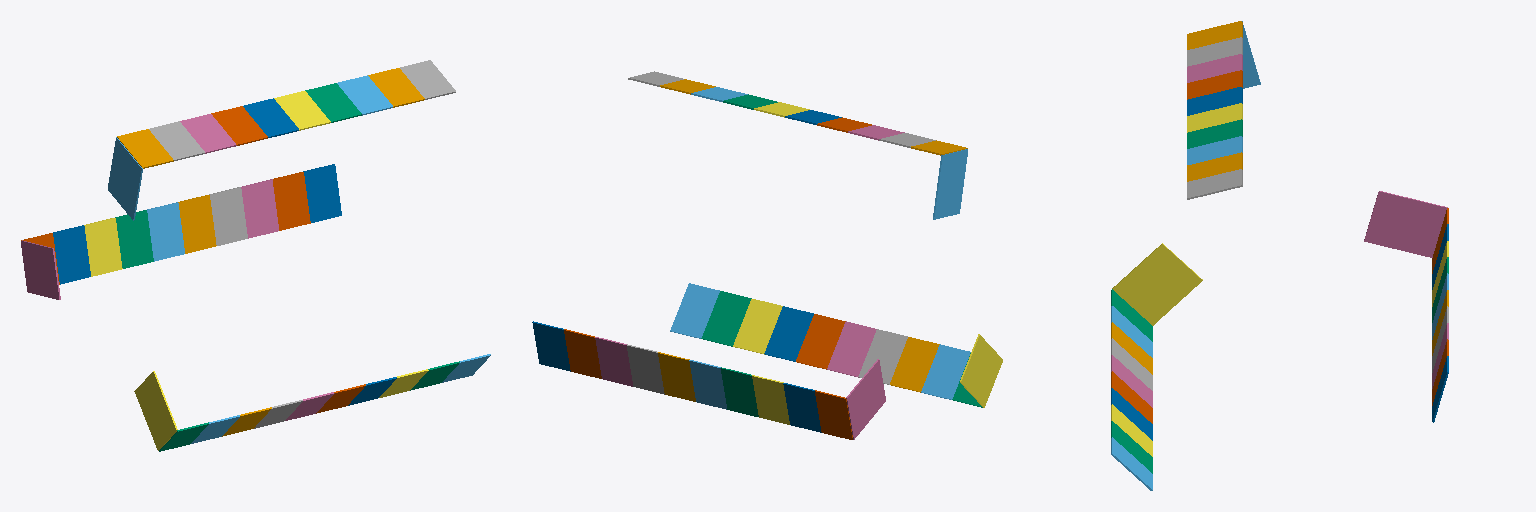
--- Render facts (derived) ---
3 views of the same robot in one strip: view 1: azimuth 30°, elevation 25°; view 2: azimuth 150°, elevation 25°; view 3: azimuth 270°, elevation 25° (orthographic).
Model panda_and_gripper with 51 links and 50 joints (37 revolute, 4 prismatic, 9 fixed), rooted at world, posed all joints at 0 but 4 set to mid-range because 0 is outside their limits (panda_joint4 = -1.57, finger_1_prismatic_joint = 0.097, finger_2_prismatic_joint = 0.097, finger_3_prismatic_joint = 0.097).
Visible links, largest first — view 1: finger_1_finger_hook_link, finger_3_finger_hook_link, finger_2_finger_hook_link, finger_2_segment_link_4, finger_2_segment_link_9, finger_2_segment_link_1, finger_2_segment_link_6, finger_2_segment_link_8, finger_2_segment_link_5, finger_2_segment_link_2, finger_2_segment_link_3, finger_2_segment_link_7 (+20 smaller); view 2: finger_1_finger_hook_link, finger_3_finger_hook_link, finger_2_finger_hook_link, finger_1_segment_link_2, finger_1_segment_link_1, finger_1_segment_link_6, finger_1_segment_link_4, finger_1_segment_link_8, finger_1_segment_link_9, finger_1_segment_link_3, finger_1_segment_link_5, finger_1_segment_link_7 (+10 smaller); view 3: finger_1_finger_hook_link, finger_2_finger_hook_link, finger_3_segment_link_1, finger_3_segment_link_2, finger_3_segment_link_4, finger_3_segment_link_5, finger_3_segment_link_7, finger_3_segment_link_9, finger_3_segment_link_3, finger_3_segment_link_6, finger_3_segment_link_10, finger_3_segment_link_8 (+11 smaller).
Link boxes in pixels (box(x1,y1,x2,y2)): finger_1_finger_hook_link: box(134, 371, 177, 450); finger_3_finger_hook_link: box(108, 137, 142, 220); finger_2_finger_hook_link: box(21, 240, 60, 299); finger_2_segment_link_4: box(209, 187, 247, 245); finger_2_segment_link_9: box(53, 225, 90, 284); finger_2_segment_link_1: box(303, 164, 341, 222); finger_2_segment_link_6: box(147, 202, 184, 261); finger_2_segment_link_8: box(84, 218, 122, 276); finger_2_segment_link_5: box(178, 195, 216, 253); finger_2_segment_link_2: box(273, 172, 310, 230); finger_2_segment_link_3: box(241, 179, 278, 238); finger_2_segment_link_7: box(115, 210, 153, 268); finger_1_finger_hook_link: box(960, 334, 1002, 407); finger_3_finger_hook_link: box(933, 149, 967, 219); finger_2_finger_hook_link: box(846, 359, 885, 439); finger_1_segment_link_2: box(701, 291, 751, 346); finger_1_segment_link_1: box(670, 283, 719, 338); finger_1_segment_link_6: box(827, 321, 876, 377); finger_1_segment_link_4: box(764, 306, 813, 361); finger_1_segment_link_8: box(890, 337, 939, 392); finger_1_segment_link_9: box(921, 344, 970, 399); finger_1_segment_link_3: box(733, 299, 782, 354); finger_1_segment_link_5: box(796, 314, 845, 369); finger_1_segment_link_7: box(858, 329, 907, 384); finger_1_finger_hook_link: box(1112, 243, 1202, 325); finger_2_finger_hook_link: box(1364, 191, 1447, 257); finger_3_segment_link_1: box(1187, 169, 1242, 199); finger_3_segment_link_2: box(1187, 152, 1242, 181); finger_3_segment_link_4: box(1187, 119, 1242, 148); finger_3_segment_link_5: box(1187, 103, 1242, 132); finger_3_segment_link_7: box(1187, 70, 1242, 99); finger_3_segment_link_9: box(1187, 37, 1242, 66); finger_3_segment_link_3: box(1187, 136, 1242, 164); finger_3_segment_link_6: box(1187, 87, 1242, 115); finger_3_segment_link_10: box(1187, 21, 1242, 49); finger_3_segment_link_8: box(1187, 54, 1242, 82).
Size in the robot's own frame: 0.1905 by 0.1648 by 0.1648 metres.
Meshes: 12 distinct files referenced, 0 mesh visuals loaded (none loaded); not drawn: 16 (reference not matched to a file when rendering).

robot.urdf — panda_and_gripper:
<?xml version="1.0" encoding="utf-8"?>
<!-- =================================================================================== -->
<!-- |    This document was autogenerated by xacro from panda_and_gripper.urdf.xacro   | -->
<!-- |    EDITING THIS FILE BY HAND IS NOT RECOMMENDED                                 | -->
<!-- =================================================================================== -->
<robot name="panda_and_gripper">
  <!-- <link name="world" />
    <xacro:unless value="${not connected_to}">
      <joint name="virtual_joint" type="fixed">
        <parent link="${connected_to}"/>
        <child link="${arm_id}_link0"/>
        <origin rpy="${rpy}" xyz="${xyz}"/>
        <dynamics damping="1.0"/>
      </joint>
    </xacro:unless> -->
  <link name="panda_link0">
    <visual>
      <geometry>
        <mesh filename="package://gripper_description/meshes_panda/visual/link0.dae"/>
      </geometry>
    </visual>
    <collision>
      <geometry>
        <mesh filename="package://gripper_description/meshes_panda/collision/link0.stl"/>
      </geometry>
    </collision>
    <inertial>
      <origin rpy="0 0 0" xyz="0 0 0"/>
      <mass value="3.06"/>
      <inertia ixx="0.3" ixy="0.0" ixz="0.0" iyy="0.3" iyz="0.0" izz="0.3"/>
      <!-- <inertia ixx="3e-1" ixy="0.0" ixz="0.0" iyy="3e-1" iyz="0.0" izz="3e-1" /> -->
    </inertial>
  </link>
  <link name="panda_link1">
    <visual>
      <geometry>
        <mesh filename="package://gripper_description/meshes_panda/visual/link1.dae"/>
      </geometry>
    </visual>
    <collision>
      <geometry>
        <mesh filename="package://gripper_description/meshes_panda/collision/link1.stl"/>
      </geometry>
    </collision>
    <inertial>
      <origin rpy="0 0 0" xyz="0 0 0"/>
      <mass value="2.34"/>
      <inertia ixx="7.0337e-01" ixy="-1.3900e-04" ixz="6.7720e-03" iyy="7.0661e-01" iyz="1.9169e-02" izz="9.1170e-03"/>
      <!-- <inertia ixx="3e-1" ixy="0.0" ixz="0.0" iyy="3e-1" iyz="0.0" izz="3e-1" /> -->
    </inertial>
  </link>
  <link name="panda_link2">
    <visual>
      <geometry>
        <mesh filename="package://gripper_description/meshes_panda/visual/link2.dae"/>
      </geometry>
    </visual>
    <collision>
      <geometry>
        <mesh filename="package://gripper_description/meshes_panda/collision/link2.stl"/>
      </geometry>
    </collision>
    <inertial>
      <origin rpy="0 0 0" xyz="0 0 0"/>
      <mass value="2.36"/>
      <inertia ixx="7.9620e-03" ixy="-3.9250e-03" ixz="1.0254e-02" iyy="2.8110e-02" iyz="7.0400e-04" izz="2.5995e-02"/>
      <!-- <inertia ixx="3e-1" ixy="0.0" ixz="0.0" iyy="3e-1" iyz="0.0" izz="3e-1" /> -->
    </inertial>
  </link>
  <link name="panda_link3">
    <visual>
      <geometry>
        <mesh filename="package://gripper_description/meshes_panda/visual/link3.dae"/>
      </geometry>
    </visual>
    <collision>
      <geometry>
        <mesh filename="package://gripper_description/meshes_panda/collision/link3.stl"/>
      </geometry>
    </collision>
    <inertial>
      <origin rpy="0 0 0" xyz="0 0 0"/>
      <mass value="2.38"/>
      <inertia ixx="3.7242e-02" ixy="-4.7610e-03" ixz="-1.1396e-02" iyy="3.6155e-02" iyz="-1.2805e-02" izz="1.0830e-02"/>
      <!-- <inertia ixx="3e-1" ixy="0.0" ixz="0.0" iyy="3e-1" iyz="0.0" izz="3e-1" /> -->
    </inertial>
  </link>
  <link name="panda_link4">
    <visual>
      <geometry>
        <mesh filename="package://gripper_description/meshes_panda/visual/link4.dae"/>
      </geometry>
    </visual>
    <collision>
      <geometry>
        <mesh filename="package://gripper_description/meshes_panda/collision/link4.stl"/>
      </geometry>
    </collision>
    <inertial>
      <origin rpy="0 0 0" xyz="0 0 0"/>
      <mass value="2.43"/>
      <inertia ixx="2.5853e-02" ixy="7.7960e-03" ixz="-1.3320e-03" iyy="1.9552e-02" iyz="8.6410e-03" izz="2.8323e-02"/>
      <!-- <inertia ixx="3e-1" ixy="0.0" ixz="0.0" iyy="3e-1" iyz="0.0" izz="3e-1" /> -->
    </inertial>
  </link>
  <link name="panda_link5">
    <visual>
      <geometry>
        <mesh filename="package://gripper_description/meshes_panda/visual/link5.dae"/>
      </geometry>
    </visual>
    <collision>
      <geometry>
        <mesh filename="package://gripper_description/meshes_panda/collision/link5.stl"/>
      </geometry>
    </collision>
    <inertial>
      <origin rpy="0 0 0" xyz="0 0 0"/>
      <mass value="3.5"/>
      <inertia ixx="3.5549e-02" ixy="-2.1170e-03" ixz="-4.0370e-03" iyy="2.9474e-02" iyz="2.2900e-04" izz="8.6270e-03"/>
      <!-- <inertia ixx="3e-1" ixy="0.0" ixz="0.0" iyy="3e-1" iyz="0.0" izz="3e-1" /> -->
    </inertial>
  </link>
  <link name="panda_link6">
    <visual>
      <geometry>
        <mesh filename="package://gripper_description/meshes_panda/visual/link6.dae"/>
      </geometry>
    </visual>
    <collision>
      <geometry>
        <mesh filename="package://gripper_description/meshes_panda/collision/link6.stl"/>
      </geometry>
    </collision>
    <inertial>
      <origin rpy="0 0 0" xyz="0 0 0"/>
      <mass value="1.47"/>
      <inertia ixx="1.9640e-03" ixy="1.0900e-04" ixz="-1.1580e-03" iyy="4.3540e-03" iyz="3.4100e-04" izz="5.4330e-03"/>
      <!-- <inertia ixx="3e-1" ixy="0.0" ixz="0.0" iyy="3e-1" iyz="0.0" izz="3e-1" /> -->
    </inertial>
  </link>
  <link name="panda_link7">
    <visual>
      <geometry>
        <mesh filename="package://gripper_description/meshes_panda/visual/link7.dae"/>
      </geometry>
    </visual>
    <collision>
      <geometry>
        <mesh filename="package://gripper_description/meshes_panda/collision/link7.stl"/>
      </geometry>
    </collision>
    <inertial>
      <origin rpy="0 0 0" xyz="0 0 0"/>
      <mass value="0.45"/>
      <inertia ixx="1.2516e-02" ixy="-4.2800e-04" ixz="-1.1960e-03" iyy="1.0027e-02" iyz="-7.4100e-04" izz="4.8150e-03"/>
      <!-- <inertia ixx="3e-1" ixy="0.0" ixz="0.0" iyy="3e-1" iyz="0.0" izz="3e-1" /> -->
    </inertial>
  </link>
  <link name="panda_link8">
    <inertial>
      <origin rpy="0 0 0" xyz="0 0 0"/>
      <mass value="0.0"/>
      <inertia ixx="1e-4" ixy="0.0" ixz="0.0" iyy="1e-4" iyz="0.0" izz="1e-4"/>
      <!-- <inertia ixx="3e-1" ixy="0.0" ixz="0.0" iyy="3e-1" iyz="0.0" izz="3e-1" /> -->
    </inertial>
  </link>
  <!-- joint6 limit lower = -0.0175 -->
  <joint name="panda_joint1" type="revolute">
    <safety_controller k_position="100.0" k_velocity="40.0" soft_lower_limit="-2.8973" soft_upper_limit="2.8973"/>
    <origin rpy="0 0 0" xyz="0 0 0.333"/>
    <parent link="panda_link0"/>
    <child link="panda_link1"/>
    <limit effort="87" lower="-2.8973" upper="2.8973" velocity="2.175"/>
    <axis xyz="0 0 1"/>
    <dynamics damping="1.0" friction="0.0"/>
  </joint>
  <joint name="panda_joint2" type="revolute">
    <safety_controller k_position="100.0" k_velocity="40.0" soft_lower_limit="-1.7628" soft_upper_limit="1.7628"/>
    <origin rpy="-1.57079632679 0 0" xyz="0 0 0"/>
    <parent link="panda_link1"/>
    <child link="panda_link2"/>
    <limit effort="87" lower="-1.7628" upper="1.7628" velocity="2.175"/>
    <axis xyz="0 0 1"/>
    <dynamics damping="1.0" friction="0.0"/>
  </joint>
  <joint name="panda_joint3" type="revolute">
    <safety_controller k_position="100.0" k_velocity="40.0" soft_lower_limit="-2.8973" soft_upper_limit="2.8973"/>
    <origin rpy="1.57079632679 0 0" xyz="0 -0.316 0"/>
    <parent link="panda_link2"/>
    <child link="panda_link3"/>
    <limit effort="87" lower="-2.8973" upper="2.8973" velocity="2.175"/>
    <axis xyz="0 0 1"/>
    <dynamics damping="1.0" friction="0.0"/>
  </joint>
  <joint name="panda_joint4" type="revolute">
    <safety_controller k_position="100.0" k_velocity="40.0" soft_lower_limit="-3.0718" soft_upper_limit="-0.0698"/>
    <origin rpy="1.57079632679 0 0" xyz="0.0825 0 0"/>
    <parent link="panda_link3"/>
    <child link="panda_link4"/>
    <limit effort="87" lower="-3.0718" upper="-0.0698" velocity="2.175"/>
    <axis xyz="0 0 1"/>
    <dynamics damping="1.0" friction="0.0"/>
  </joint>
  <joint name="panda_joint5" type="revolute">
    <safety_controller k_position="100.0" k_velocity="40.0" soft_lower_limit="-2.8973" soft_upper_limit="2.8973"/>
    <origin rpy="-1.57079632679 0 0" xyz="-0.0825 0.384 0"/>
    <parent link="panda_link4"/>
    <child link="panda_link5"/>
    <limit effort="12" lower="-2.8973" upper="2.8973" velocity="2.61"/>
    <axis xyz="0 0 1"/>
    <dynamics damping="1.0" friction="0.0"/>
  </joint>
  <joint name="panda_joint6" type="revolute">
    <safety_controller k_position="100.0" k_velocity="40.0" soft_lower_limit="-0.0175" soft_upper_limit="3.7525"/>
    <origin rpy="1.57079632679 0 0" xyz="0 0 0"/>
    <parent link="panda_link5"/>
    <child link="panda_link6"/>
    <limit effort="12" lower="-0.0175" upper="3.7525" velocity="2.61"/>
    <axis xyz="0 0 1"/>
    <dynamics damping="1.0" friction="0.0"/>
  </joint>
  <joint name="panda_joint7" type="revolute">
    <safety_controller k_position="100.0" k_velocity="40.0" soft_lower_limit="-2.8973" soft_upper_limit="2.8973"/>
    <origin rpy="1.57079632679 0 0" xyz="0.088 0 0"/>
    <parent link="panda_link6"/>
    <child link="panda_link7"/>
    <limit effort="12" lower="-2.8973" upper="2.8973" velocity="2.61"/>
    <axis xyz="0 0 1"/>
    <dynamics damping="1.0" friction="0.0"/>
  </joint>
  <joint name="panda_joint8" type="fixed">
    <origin rpy="0 0 0" xyz="0 0 0.107"/>
    <parent link="panda_link7"/>
    <child link="panda_link8"/>
    <axis xyz="0 0 0"/>
    <dynamics damping="1.0" friction="0.0"/>
  </joint>
  <gazebo reference="panda_link0">
    <material>Gazebo/White</material>
    <mu1>0.2</mu1>
    <mu2>0.2</mu2>
  </gazebo>
  <gazebo reference="panda_link1">
    <material>Gazebo/White</material>
    <mu1>0.2</mu1>
    <mu2>0.2</mu2>
  </gazebo>
  <gazebo reference="panda_link2">
    <material>Gazebo/White</material>
    <mu1>0.2</mu1>
    <mu2>0.2</mu2>
  </gazebo>
  <gazebo reference="panda_link3">
    <material>Gazebo/White</material>
    <mu1>0.2</mu1>
    <mu2>0.2</mu2>
  </gazebo>
  <gazebo reference="panda_link4">
    <material>Gazebo/White</material>
    <mu1>0.2</mu1>
    <mu2>0.2</mu2>
  </gazebo>
  <gazebo reference="panda_link5">
    <material>Gazebo/White</material>
    <mu1>0.2</mu1>
    <mu2>0.2</mu2>
  </gazebo>
  <gazebo reference="panda_link6">
    <material>Gazebo/White</material>
    <mu1>0.2</mu1>
    <mu2>0.2</mu2>
  </gazebo>
  <gazebo reference="gripper_base_link">
    <material>Gazebo/Grey</material>
    <mu1>0.2</mu1>
    <mu2>0.2</mu2>
  </gazebo>
  <gazebo reference="finger_1_intermediate">
    <material>Gazebo/Grey</material>
    <mu1>0.2</mu1>
    <mu2>0.2</mu2>
  </gazebo>
  <gazebo reference="finger_1">
    <material>Gazebo/Grey</material>
    <mu1>0.2</mu1>
    <mu2>0.2</mu2>
  </gazebo>
  <gazebo reference="finger_2_intermediate">
    <material>Gazebo/Grey</material>
    <mu1>0.2</mu1>
    <mu2>0.2</mu2>
  </gazebo>
  <gazebo reference="finger_2">
    <material>Gazebo/Grey</material>
    <mu1>0.2</mu1>
    <mu2>0.2</mu2>
  </gazebo>
  <gazebo reference="finger_3_intermediate">
    <material>Gazebo/Grey</material>
    <mu1>0.2</mu1>
    <mu2>0.2</mu2>
  </gazebo>
  <gazebo reference="finger_3">
    <material>Gazebo/Grey</material>
    <mu1>0.2</mu1>
    <mu2>0.2</mu2>
  </gazebo>
  <gazebo reference="palm">
    <material>Gazebo/Grey</material>
    <mu1>0.2</mu1>
    <mu2>0.2</mu2>
  </gazebo>
  <transmission name="panda_tran_1">
    <type>transmission_interface/SimpleTransmission</type>
    <joint name="panda_joint1">
      <!-- <hardwareInterface>hardware_interface/EffortJointInterface</hardwareInterface> -->
      <hardwareInterface>hardware_interface/PositionJointInterface</hardwareInterface>
    </joint>
    <actuator name="panda_motor_1">
      <!-- <hardwareInterface>hardware_interface/EffortJointInterface</hardwareInterface> -->
      <hardwareInterface>hardware_interface/PositionJointInterface</hardwareInterface>
      <mechanicalReduction>1</mechanicalReduction>
    </actuator>
  </transmission>
  <transmission name="panda_tran_2">
    <type>transmission_interface/SimpleTransmission</type>
    <joint name="panda_joint2">
      <!-- <hardwareInterface>hardware_interface/EffortJointInterface</hardwareInterface> -->
      <hardwareInterface>hardware_interface/PositionJointInterface</hardwareInterface>
    </joint>
    <actuator name="panda_motor_2">
      <!-- <hardwareInterface>hardware_interface/EffortJointInterface</hardwareInterface> -->
      <hardwareInterface>hardware_interface/PositionJointInterface</hardwareInterface>
      <mechanicalReduction>1</mechanicalReduction>
    </actuator>
  </transmission>
  <transmission name="panda_tran_3">
    <type>transmission_interface/SimpleTransmission</type>
    <joint name="panda_joint3">
      <!-- <hardwareInterface>hardware_interface/EffortJointInterface</hardwareInterface> -->
      <hardwareInterface>hardware_interface/PositionJointInterface</hardwareInterface>
    </joint>
    <actuator name="panda_motor_3">
      <!-- <hardwareInterface>hardware_interface/EffortJointInterface</hardwareInterface> -->
      <hardwareInterface>hardware_interface/PositionJointInterface</hardwareInterface>
      <mechanicalReduction>1</mechanicalReduction>
    </actuator>
  </transmission>
  <transmission name="panda_tran_4">
    <type>transmission_interface/SimpleTransmission</type>
    <joint name="panda_joint4">
      <!-- <hardwareInterface>hardware_interface/EffortJointInterface</hardwareInterface> -->
      <hardwareInterface>hardware_interface/PositionJointInterface</hardwareInterface>
    </joint>
    <actuator name="panda_motor_4">
      <!-- <hardwareInterface>hardware_interface/EffortJointInterface</hardwareInterface> -->
      <hardwareInterface>hardware_interface/PositionJointInterface</hardwareInterface>
      <mechanicalReduction>1</mechanicalReduction>
    </actuator>
  </transmission>
  <transmission name="panda_tran_5">
    <type>transmission_interface/SimpleTransmission</type>
    <joint name="panda_joint5">
      <!-- <hardwareInterface>hardware_interface/EffortJointInterface</hardwareInterface> -->
      <hardwareInterface>hardware_interface/PositionJointInterface</hardwareInterface>
    </joint>
    <actuator name="panda_motor_5">
      <!-- <hardwareInterface>hardware_interface/EffortJointInterface</hardwareInterface> -->
      <hardwareInterface>hardware_interface/PositionJointInterface</hardwareInterface>
      <mechanicalReduction>1</mechanicalReduction>
    </actuator>
  </transmission>
  <transmission name="panda_tran_6">
    <type>transmission_interface/SimpleTransmission</type>
    <joint name="panda_joint6">
      <!-- <hardwareInterface>hardware_interface/EffortJointInterface</hardwareInterface> -->
      <hardwareInterface>hardware_interface/PositionJointInterface</hardwareInterface>
    </joint>
    <actuator name="panda_motor_6">
      <!-- <hardwareInterface>hardware_interface/EffortJointInterface</hardwareInterface> -->
      <hardwareInterface>hardware_interface/PositionJointInterface</hardwareInterface>
      <mechanicalReduction>1</mechanicalReduction>
    </actuator>
  </transmission>
  <transmission name="panda_tran_7">
    <type>transmission_interface/SimpleTransmission</type>
    <joint name="panda_joint7">
      <!-- <hardwareInterface>hardware_interface/EffortJointInterface</hardwareInterface> -->
      <hardwareInterface>hardware_interface/PositionJointInterface</hardwareInterface>
    </joint>
    <actuator name="panda_motor_7">
      <!-- <hardwareInterface>hardware_interface/EffortJointInterface</hardwareInterface> -->
      <hardwareInterface>hardware_interface/PositionJointInterface</hardwareInterface>
      <mechanicalReduction>1</mechanicalReduction>
    </actuator>
  </transmission>
  <transmission name="panda_tran_8">
    <type>transmission_interface/SimpleTransmission</type>
    <joint name="finger_1_revolute_joint">
      <!-- <hardwareInterface>hardware_interface/EffortJointInterface</hardwareInterface> -->
      <hardwareInterface>hardware_interface/PositionJointInterface</hardwareInterface>
    </joint>
    <actuator name="panda_motor_8">
      <!-- <hardwareInterface>hardware_interface/EffortJointInterface</hardwareInterface> -->
      <hardwareInterface>hardware_interface/PositionJointInterface</hardwareInterface>
      <mechanicalReduction>1</mechanicalReduction>
    </actuator>
  </transmission>
  <transmission name="panda_tran_9">
    <type>transmission_interface/SimpleTransmission</type>
    <joint name="finger_1_prismatic_joint">
      <!-- <hardwareInterface>hardware_interface/EffortJointInterface</hardwareInterface> -->
      <hardwareInterface>hardware_interface/PositionJointInterface</hardwareInterface>
    </joint>
    <actuator name="panda_motor_9">
      <!-- <hardwareInterface>hardware_interface/EffortJointInterface</hardwareInterface> -->
      <hardwareInterface>hardware_interface/PositionJointInterface</hardwareInterface>
      <mechanicalReduction>1</mechanicalReduction>
    </actuator>
  </transmission>
  <transmission name="panda_tran_10">
    <type>transmission_interface/SimpleTransmission</type>
    <joint name="finger_2_revolute_joint">
      <!-- <hardwareInterface>hardware_interface/EffortJointInterface</hardwareInterface> -->
      <hardwareInterface>hardware_interface/PositionJointInterface</hardwareInterface>
    </joint>
    <actuator name="panda_motor_10">
      <!-- <hardwareInterface>hardware_interface/EffortJointInterface</hardwareInterface> -->
      <hardwareInterface>hardware_interface/PositionJointInterface</hardwareInterface>
      <mechanicalReduction>1</mechanicalReduction>
    </actuator>
  </transmission>
  <transmission name="panda_tran_11">
    <type>transmission_interface/SimpleTransmission</type>
    <joint name="finger_2_prismatic_joint">
      <!-- <hardwareInterface>hardware_interface/EffortJointInterface</hardwareInterface> -->
      <hardwareInterface>hardware_interface/PositionJointInterface</hardwareInterface>
    </joint>
    <actuator name="panda_motor_11">
      <!-- <hardwareInterface>hardware_interface/EffortJointInterface</hardwareInterface> -->
      <hardwareInterface>hardware_interface/PositionJointInterface</hardwareInterface>
      <mechanicalReduction>1</mechanicalReduction>
    </actuator>
  </transmission>
  <transmission name="panda_tran_12">
    <type>transmission_interface/SimpleTransmission</type>
    <joint name="finger_3_revolute_joint">
      <!-- <hardwareInterface>hardware_interface/EffortJointInterface</hardwareInterface> -->
      <hardwareInterface>hardware_interface/PositionJointInterface</hardwareInterface>
    </joint>
    <actuator name="panda_motor_12">
      <!-- <hardwareInterface>hardware_interface/EffortJointInterface</hardwareInterface> -->
      <hardwareInterface>hardware_interface/PositionJointInterface</hardwareInterface>
      <mechanicalReduction>1</mechanicalReduction>
    </actuator>
  </transmission>
  <transmission name="panda_tran_13">
    <type>transmission_interface/SimpleTransmission</type>
    <joint name="finger_3_prismatic_joint">
      <!-- <hardwareInterface>hardware_interface/EffortJointInterface</hardwareInterface> -->
      <hardwareInterface>hardware_interface/PositionJointInterface</hardwareInterface>
    </joint>
    <actuator name="panda_motor_13">
      <!-- <hardwareInterface>hardware_interface/EffortJointInterface</hardwareInterface> -->
      <hardwareInterface>hardware_interface/PositionJointInterface</hardwareInterface>
      <mechanicalReduction>1</mechanicalReduction>
    </actuator>
  </transmission>
  <transmission name="panda_tran_14">
    <type>transmission_interface/SimpleTransmission</type>
    <joint name="palm_prismatic_joint">
      <!-- <hardwareInterface>hardware_interface/EffortJointInterface</hardwareInterface> -->
      <hardwareInterface>hardware_interface/PositionJointInterface</hardwareInterface>
    </joint>
    <actuator name="panda_motor_14">
      <!-- <hardwareInterface>hardware_interface/EffortJointInterface</hardwareInterface> -->
      <hardwareInterface>hardware_interface/PositionJointInterface</hardwareInterface>
      <mechanicalReduction>1</mechanicalReduction>
    </actuator>
  </transmission>
  <gazebo>
    <plugin filename="libgazebo_ros_control.so" name="gazebo_ros_control">
      <!--            	<robotNamespace>/gripper_controller</robotNamespace>-->
    </plugin>
  </gazebo>
  <!-- retrieve info about the gripper
    <xacro:property name="filename" value="$(find gripper_description)/config/gripper.yaml"/>
    <xacro:property name="dictionary" value="${load_yaml(filename)}"/>
    <xacro:property name="is_segmented" value="${dictionary['gripper_config']['is_segmented']}"/>
    -->
  <!-- BASE LINK -->
  <link name="gripper_base_link">
    <inertial>
      <mass value="1.5"/>
      <origin rpy="3.14159265359 0 0" xyz="0 0 0.025"/>
      <inertia ixx="9.95e-3" ixy="2.73e-6" ixz="-14.32e-6" iyy="10.08e-3" iyz="121.38e-6" izz="5.13e-3"/>
    </inertial>
    <visual>
      <geometry>
        <mesh filename="package://gripper_description/meshes/main body visual.STL"/>
      </geometry>
    </visual>
    <collision>
      <geometry>
        <mesh filename="package://gripper_description/meshes/main body collision.STL"/>
      </geometry>
    </collision>
  </link>
  <!-- Intermediate link for prismatic joint -->
  <link name="finger_1_intermediate">
    <inertial>
      <mass value="0.1"/>
      <origin rpy="0 0 0" xyz="0 0 0"/>
      <inertia ixx="55.59e-6" ixy="-47.23e-6" ixz="1.16e-6" iyy="146.36e-6" iyz="1.00e-6" izz="154.18e-6"/>
    </inertial>
    <visual>
      <geometry>
        <mesh filename="package://gripper_description/meshes/nut visual.STL"/>
      </geometry>
    </visual>
    <collision>
      <geometry>
        <mesh filename="package://gripper_description/meshes/nut collision.STL"/>
      </geometry>
    </collision>
  </link>
  <!-- Main finger link -->
  <link name="finger_1">
    <inertial>
      <mass value="0.1"/>
      <origin rpy="0 0 0" xyz="0 0 0"/>
      <inertia ixx="55.59e-6" ixy="-47.23e-6" ixz="1.16e-6" iyy="146.36e-6" iyz="1.00e-6" izz="154.18e-6"/>
    </inertial>
    <visual>
      <geometry>
        <mesh filename="package://gripper_description/meshes/platform only visual.STL"/>
      </geometry>
    </visual>
    <collision>
      <geometry>
        <mesh filename="package://gripper_description/meshes/platform only collision.STL"/>
      </geometry>
    </collision>
  </link>
  <!-- Prismatic joint -->
  <joint name="finger_1_prismatic_joint" type="prismatic">
    <axis rpy="0 0 0" xyz="0 1 0"/>
    <parent link="gripper_base_link"/>
    <child link="finger_1_intermediate"/>
    <origin rpy="4.71238898038                    4.71238898038                    1.57079632679" xyz="0.0                    0.0                    0"/>
    <limit effort="40.0" lower="0.053" upper="0.141" velocity="0.015"/>
    <dynamics damping="1.0"/>
  </joint>
  <!-- Revolute joint -->
  <joint name="finger_1_revolute_joint" type="revolute">
    <axis rpy="0 0 0" xyz="0 0 1"/>
    <parent link="finger_1_intermediate"/>
    <child link="finger_1"/>
    <origin rpy="0 0 0.0" xyz="0 0 0"/>
    <limit effort="40.0" lower="-0.7" upper="0.7" velocity="0.1"/>
    <dynamics damping="1.0"/>
  </joint>
  <!-- Intermediate link for prismatic joint -->
  <link name="finger_2_intermediate">
    <inertial>
      <mass value="0.1"/>
      <origin rpy="0 0 0" xyz="0 0 0"/>
      <inertia ixx="55.59e-6" ixy="-47.23e-6" ixz="1.16e-6" iyy="146.36e-6" iyz="1.00e-6" izz="154.18e-6"/>
    </inertial>
    <visual>
      <geometry>
        <mesh filename="package://gripper_description/meshes/nut visual.STL"/>
      </geometry>
    </visual>
    <collision>
      <geometry>
        <mesh filename="package://gripper_description/meshes/nut collision.STL"/>
      </geometry>
    </collision>
  </link>
  <!-- Main finger link -->
  <link name="finger_2">
    <inertial>
      <mass value="0.1"/>
      <origin rpy="0 0 0" xyz="0 0 0"/>
      <inertia ixx="55.59e-6" ixy="-47.23e-6" ixz="1.16e-6" iyy="146.36e-6" iyz="1.00e-6" izz="154.18e-6"/>
    </inertial>
    <visual>
      <geometry>
        <mesh filename="package://gripper_description/meshes/platform only visual.STL"/>
      </geometry>
    </visual>
    <collision>
      <geometry>
        <mesh filename="package://gripper_description/meshes/platform only collision.STL"/>
      </geometry>
    </collision>
  </link>
  <!-- Prismatic joint -->
  <joint name="finger_2_prismatic_joint" type="prismatic">
    <axis rpy="0 0 0" xyz="0 1 0"/>
    <parent link="gripper_base_link"/>
    <child link="finger_2_intermediate"/>
    <origin rpy="4.71238898038                    4.71238898038                    -0.523598775598" xyz="0.0                    -0.0                    0"/>
    <limit effort="40.0" lower="0.053" upper="0.141" velocity="0.015"/>
    <dynamics damping="1.0"/>
  </joint>
  <!-- Revolute joint -->
  <joint name="finger_2_revolute_joint" type="revolute">
    <axis rpy="0 0 0" xyz="0 0 1"/>
    <parent link="finger_2_intermediate"/>
    <child link="finger_2"/>
    <origin rpy="0 0 0.0" xyz="0 0 0"/>
    <limit effort="40.0" lower="-0.7" upper="0.7" velocity="0.1"/>
    <dynamics damping="1.0"/>
  </joint>
  <!-- Intermediate link for prismatic joint -->
  <link name="finger_3_intermediate">
    <inertial>
      <mass value="0.1"/>
      <origin rpy="0 0 0" xyz="0 0 0"/>
      <inertia ixx="55.59e-6" ixy="-47.23e-6" ixz="1.16e-6" iyy="146.36e-6" iyz="1.00e-6" izz="154.18e-6"/>
    </inertial>
    <visual>
      <geometry>
        <mesh filename="package://gripper_description/meshes/nut visual.STL"/>
      </geometry>
    </visual>
    <collision>
      <geometry>
        <mesh filename="package://gripper_description/meshes/nut collision.STL"/>
      </geometry>
    </collision>
  </link>
  <!-- Main finger link -->
  <link name="finger_3">
    <inertial>
      <mass value="0.1"/>
      <origin rpy="0 0 0" xyz="0 0 0"/>
      <inertia ixx="55.59e-6" ixy="-47.23e-6" ixz="1.16e-6" iyy="146.36e-6" iyz="1.00e-6" izz="154.18e-6"/>
    </inertial>
    <visual>
      <geometry>
        <mesh filename="package://gripper_description/meshes/platform only visual.STL"/>
      </geometry>
    </visual>
    <collision>
      <geometry>
        <mesh filename="package://gripper_description/meshes/platform only collision.STL"/>
      </geometry>
    </collision>
  </link>
  <!-- Prismatic joint -->
  <joint name="finger_3_prismatic_joint" type="prismatic">
    <axis rpy="0 0 0" xyz="0 1 0"/>
    <parent link="gripper_base_link"/>
    <child link="finger_3_intermediate"/>
    <origin rpy="4.71238898038                    4.71238898038                    -2.61799387799" xyz="-0.0                    -0.0                    0"/>
    <limit effort="40.0" lower="0.053" upper="0.141" velocity="0.015"/>
    <dynamics damping="1.0"/>
  </joint>
  <!-- Revolute joint -->
  <joint name="finger_3_revolute_joint" type="revolute">
    <axis rpy="0 0 0" xyz="0 0 1"/>
    <parent link="finger_3_intermediate"/>
    <child link="finger_3"/>
    <origin rpy="0 0 0.0" xyz="0 0 0"/>
    <limit effort="40.0" lower="-0.7" upper="0.7" velocity="0.1"/>
    <dynamics damping="1.0"/>
  </joint>
  <!-- PALM -->
  <link name="palm">
    <inertial>
      <mass value="0.05"/>
      <origin rpy="0 0 0" xyz="0 0 0"/>
      <inertia ixx="10.0e-6" ixy="0.0" ixz="0.0" iyy="10.0e-6" iyz="0.0" izz="10.0e-6"/>
    </inertial>
    <visual>
      <origin rpy="0 0 0" xyz="0 0 0"/>
      <geometry>
        <mesh filename="package://gripper_description/meshes/palm visual.STL"/>
      </geometry>
    </visual>
    <collision>
      <geometry>
        <mesh filename="package://gripper_description/meshes/palm collision.STL"/>
      </geometry>
    </collision>
  </link>
  <joint name="palm_prismatic_joint" type="prismatic">
    <axis rpy="0 0 0" xyz="1 0 0"/>
    <parent link="gripper_base_link"/>
    <child link="palm"/>
    <origin rpy="0 -1.57079632679 0" xyz="0 0 0"/>
    <limit effort="40.0" lower="0.0" upper="0.16" velocity="0.036"/>
    <dynamics damping="1.0"/>
  </joint>
  <!-- <xacro:property name="joint_friction" value="${total_friction / num_segments}"/>
    <xacro:property name="joint_damping" value="${total_damping * num_segments}"/> -->
  <link name="finger_1_segment_link_1">
    <inertial>
      <mass value="0.00633333333333"/>
      <inertia ixx="4.14205277778e-07" ixy="0.00" ixz="0.00" iyy="7.62538611111e-07" iyz="0.00" izz="1.17588888889e-06"/>
      <!-- <inertia ixx="${1e-6 * stability_factor}"
                 iyy="${1e-6 * stability_factor}"
                 izz="${1e-6 * stability_factor}"
                ixy="0.00" iyz="0.00" ixz="0.00" /> -->
    </inertial>
    <visual>
      <origin rpy="0 0 0" xyz="0.0095 0 0"/>
      <geometry>
        <box size="0.019 0.028 0.0009"/>
      </geometry>
    </visual>
    <collision>
      <origin rpy="0 0 0" xyz="0.0095 0 0"/>
      <geometry>
        <box size="0.019 0.028 0.0009"/>
      </geometry>
    </collision>
  </link>
  <gazebo reference="finger_1_segment_link_1">
    <material>Gazebo/Orange</material>
    <mu1>0.1</mu1>
    <mu2>0.1</mu2>
    <maxVel>0.0</maxVel>
    <minDepth>0.001</minDepth>
    <!-- <kp>100</kp>
        <kd>1</kd> -->
  </gazebo>
  <link name="finger_1_segment_link_2">
    <inertial>
      <mass value="0.00633333333333"/>
      <inertia ixx="4.14205277778e-07" ixy="0.00" ixz="0.00" iyy="7.62538611111e-07" iyz="0.00" izz="1.17588888889e-06"/>
      <!-- <inertia ixx="${1e-6 * stability_factor}"
                 iyy="${1e-6 * stability_factor}"
                 izz="${1e-6 * stability_factor}"
                ixy="0.00" iyz="0.00" ixz="0.00" /> -->
    </inertial>
    <visual>
      <origin rpy="0 0 0" xyz="0.0095 0 0"/>
      <geometry>
        <box size="0.019 0.028 0.0009"/>
      </geometry>
    </visual>
    <collision>
      <origin rpy="0 0 0" xyz="0.0095 0 0"/>
      <geometry>
        <box size="0.019 0.028 0.0009"/>
      </geometry>
    </collision>
  </link>
  <gazebo reference="finger_1_segment_link_2">
    <material>Gazebo/Orange</material>
    <mu1>0.1</mu1>
    <mu2>0.1</mu2>
    <maxVel>0.0</maxVel>
    <minDepth>0.001</minDepth>
    <!-- <kp>100</kp>
        <kd>1</kd> -->
  </gazebo>
  <!-- bending joint -->
  <joint name="finger_1_segment_joint_1" type="revolute">
    <axis rpy="0 0 0" xyz="0 1 0"/>
    <parent link="finger_1_segment_link_1"/>
    <child link="finger_1_segment_link_2"/>
    <origin rpy="0 0 0" xyz="0.019 0 0"/>
    <limit effort="1000.0" lower="-1.0" upper="1.0" velocity="1.0"/>
    <dynamics damping="0.001" friction="0.0"/>
  </joint>
  <gazebo reference="finger_1_segment_joint_1">
    <provideFeedback>1</provideFeedback>
    <springReference>0.0</springReference>
    <implicitSpringDamper>1</implicitSpringDamper>
    <springStiffness>3.0</springStiffness>
  </gazebo>
  <!-- set transmission for gazebo ROS controllers-->
  <transmission name="finger_1_segment_tran_1">
    <type>transmission_interface/SimpleTransmission</type>
    <joint name="finger_1_segment_joint_1">
      <hardwareInterface>hardware_interface/EffortJointInterface</hardwareInterface>
    </joint>
    <actuator name="finger_1_segment_motor_1">
      <hardwareInterface>hardware_interface/EffortJointInterface</hardwareInterface>
      <mechanicalReduction>1</mechanicalReduction>
    </actuator>
  </transmission>
  <link name="finger_1_segment_link_3">
    <inertial>
      <mass value="0.00633333333333"/>
      <inertia ixx="4.14205277778e-07" ixy="0.00" ixz="0.00" iyy="7.62538611111e-07" iyz="0.00" izz="1.17588888889e-06"/>
      <!-- <inertia ixx="${1e-6 * stability_factor}"
                 iyy="${1e-6 * stability_factor}"
                 izz="${1e-6 * stability_factor}"
                ixy="0.00" iyz="0.00" ixz="0.00" /> -->
    </inertial>
    <visual>
      <origin rpy="0 0 0" xyz="0.0095 0 0"/>
      <geometry>
        <box size="0.019 0.028 0.0009"/>
      </geometry>
    </visual>
    <collision>
      <origin rpy="0 0 0" xyz="0.0095 0 0"/>
      <geometry>
        <box size="0.019 0.028 0.0009"/>
      </geometry>
    </collision>
  </link>
  <gazebo reference="finger_1_segment_link_3">
    <material>Gazebo/Orange</material>
    <mu1>0.1</mu1>
    <mu2>0.1</mu2>
    <maxVel>0.0</maxVel>
    <minDepth>0.001</minDepth>
    <!-- <kp>100</kp>
        <kd>1</kd> -->
  </gazebo>
  <!-- bending joint -->
  <joint name="finger_1_segment_joint_2" type="revolute">
    <axis rpy="0 0 0" xyz="0 1 0"/>
    <parent link="finger_1_segment_link_2"/>
    <child link="finger_1_segment_link_3"/>
    <origin rpy="0 0 0" xyz="0.019 0 0"/>
    <limit effort="1000.0" lower="-1.0" upper="1.0" velocity="1.0"/>
    <dynamics damping="0.001" friction="0.0"/>
  </joint>
  <gazebo reference="finger_1_segment_joint_2">
    <provideFeedback>1</provideFeedback>
    <springReference>0.0</springReference>
    <implicitSpringDamper>1</implicitSpringDamper>
    <springStiffness>3.0</springStiffness>
  </gazebo>
  <!-- set transmission for gazebo ROS controllers-->
  <transmission name="finger_1_segment_tran_2">
    <type>transmission_interface/SimpleTransmission</type>
    <joint name="finger_1_segment_joint_2">
      <hardwareInterface>hardware_interface/EffortJointInterface</hardwareInterface>
    </joint>
    <actuator name="finger_1_segment_motor_2">
      <hardwareInterface>hardware_interface/EffortJointInterface</hardwareInterface>
      <mechanicalReduction>1</mechanicalReduction>
    </actuator>
  </transmission>
  <link name="finger_1_segment_link_4">
    <inertial>
      <mass value="0.00633333333333"/>
      <inertia ixx="4.14205277778e-07" ixy="0.00" ixz="0.00" iyy="7.62538611111e-07" iyz="0.00" izz="1.17588888889e-06"/>
      <!-- <inertia ixx="${1e-6 * stability_factor}"
                 iyy="${1e-6 * stability_factor}"
                 izz="${1e-6 * stability_factor}"
                ixy="0.00" iyz="0.00" ixz="0.00" /> -->
    </inertial>
    <visual>
      <origin rpy="0 0 0" xyz="0.0095 0 0"/>
      <geometry>
        <box size="0.019 0.028 0.0009"/>
      </geometry>
    </visual>
    <collision>
      <origin rpy="0 0 0" xyz="0.0095 0 0"/>
      <geometry>
        <box size="0.019 0.028 0.0009"/>
      </geometry>
    </collision>
  </link>
  <gazebo reference="finger_1_segment_link_4">
    <material>Gazebo/Orange</material>
    <mu1>0.1</mu1>
    <mu2>0.1</mu2>
    <maxVel>0.0</maxVel>
    <minDepth>0.001</minDepth>
    <!-- <kp>100</kp>
        <kd>1</kd> -->
  </gazebo>
  <!-- bending joint -->
  <joint name="finger_1_segment_joint_3" type="revolute">
    <axis rpy="0 0 0" xyz="0 1 0"/>
    <parent link="finger_1_segment_link_3"/>
    <child link="finger_1_segment_link_4"/>
    <origin rpy="0 0 0" xyz="0.019 0 0"/>
    <limit effort="1000.0" lower="-1.0" upper="1.0" velocity="1.0"/>
    <dynamics damping="0.001" friction="0.0"/>
  </joint>
  <gazebo reference="finger_1_segment_joint_3">
    <provideFeedback>1</provideFeedback>
    <springReference>0.0</springReference>
    <implicitSpringDamper>1</implicitSpringDamper>
    <springStiffness>3.0</springStiffness>
  </gazebo>
  <!-- set transmission for gazebo ROS controllers-->
  <transmission name="finger_1_segment_tran_3">
    <type>transmission_interface/SimpleTransmission</type>
    <joint name="finger_1_segment_joint_3">
      <hardwareInterface>hardware_interface/EffortJointInterface</hardwareInterface>
    </joint>
    <actuator name="finger_1_segment_motor_3">
      <hardwareInterface>hardware_interface/EffortJointInterface</hardwareInterface>
      <mechanicalReduction>1</mechanicalReduction>
    </actuator>
  </transmission>
  <link name="finger_1_segment_link_5">
    <inertial>
      <mass value="0.00633333333333"/>
      <inertia ixx="4.14205277778e-07" ixy="0.00" ixz="0.00" iyy="7.62538611111e-07" iyz="0.00" izz="1.17588888889e-06"/>
      <!-- <inertia ixx="${1e-6 * stability_factor}"
                 iyy="${1e-6 * stability_factor}"
                 izz="${1e-6 * stability_factor}"
                ixy="0.00" iyz="0.00" ixz="0.00" /> -->
    </inertial>
    <visual>
      <origin rpy="0 0 0" xyz="0.0095 0 0"/>
      <geometry>
        <box size="0.019 0.028 0.0009"/>
      </geometry>
    </visual>
    <collision>
      <origin rpy="0 0 0" xyz="0.0095 0 0"/>
      <geometry>
        <box size="0.019 0.028 0.0009"/>
      </geometry>
    </collision>
  </link>
  <gazebo reference="finger_1_segment_link_5">
    <material>Gazebo/Orange</material>
    <mu1>0.1</mu1>
    <mu2>0.1</mu2>
    <maxVel>0.0</maxVel>
    <minDepth>0.001</minDepth>
    <!-- <kp>100</kp>
        <kd>1</kd> -->
  </gazebo>
  <!-- bending joint -->
  <joint name="finger_1_segment_joint_4" type="revolute">
    <axis rpy="0 0 0" xyz="0 1 0"/>
    <parent link="finger_1_segment_link_4"/>
    <child link="finger_1_segment_link_5"/>
    <origin rpy="0 0 0" xyz="0.019 0 0"/>
    <limit effort="1000.0" lower="-1.0" upper="1.0" velocity="1.0"/>
    <dynamics damping="0.001" friction="0.0"/>
  </joint>
  <gazebo reference="finger_1_segment_joint_4">
    <provideFeedback>1</provideFeedback>
    <springReference>0.0</springReference>
    <implicitSpringDamper>1</implicitSpringDamper>
    <springStiffness>3.0</springStiffness>
  </gazebo>
  <!-- set transmission for gazebo ROS controllers-->
  <transmission name="finger_1_segment_tran_4">
    <type>transmission_interface/SimpleTransmission</type>
    <joint name="finger_1_segment_joint_4">
      <hardwareInterface>hardware_interface/EffortJointInterface</hardwareInterface>
    </joint>
    <actuator name="finger_1_segment_motor_4">
      <hardwareInterface>hardware_interface/EffortJointInterface</hardwareInterface>
      <mechanicalReduction>1</mechanicalReduction>
    </actuator>
  </transmission>
  <link name="finger_1_segment_link_6">
    <inertial>
      <mass value="0.00633333333333"/>
      <inertia ixx="4.14205277778e-07" ixy="0.00" ixz="0.00" iyy="7.62538611111e-07" iyz="0.00" izz="1.17588888889e-06"/>
      <!-- <inertia ixx="${1e-6 * stability_factor}"
                 iyy="${1e-6 * stability_factor}"
                 izz="${1e-6 * stability_factor}"
                ixy="0.00" iyz="0.00" ixz="0.00" /> -->
    </inertial>
    <visual>
      <origin rpy="0 0 0" xyz="0.0095 0 0"/>
      <geometry>
        <box size="0.019 0.028 0.0009"/>
      </geometry>
    </visual>
    <collision>
      <origin rpy="0 0 0" xyz="0.0095 0 0"/>
      <geometry>
        <box size="0.019 0.028 0.0009"/>
      </geometry>
    </collision>
  </link>
  <gazebo reference="finger_1_segment_link_6">
    <material>Gazebo/Orange</material>
    <mu1>0.1</mu1>
    <mu2>0.1</mu2>
    <maxVel>0.0</maxVel>
    <minDepth>0.001</minDepth>
    <!-- <kp>100</kp>
        <kd>1</kd> -->
  </gazebo>
  <!-- bending joint -->
  <joint name="finger_1_segment_joint_5" type="revolute">
    <axis rpy="0 0 0" xyz="0 1 0"/>
    <parent link="finger_1_segment_link_5"/>
    <child link="finger_1_segment_link_6"/>
    <origin rpy="0 0 0" xyz="0.019 0 0"/>
    <limit effort="1000.0" lower="-1.0" upper="1.0" velocity="1.0"/>
    <dynamics damping="0.001" friction="0.0"/>
  </joint>
  <gazebo reference="finger_1_segment_joint_5">
    <provideFeedback>1</provideFeedback>
    <springReference>0.0</springReference>
    <implicitSpringDamper>1</implicitSpringDamper>
    <springStiffness>3.0</springStiffness>
  </gazebo>
  <!-- set transmission for gazebo ROS controllers-->
  <transmission name="finger_1_segment_tran_5">
    <type>transmission_interface/SimpleTransmission</type>
    <joint name="finger_1_segment_joint_5">
      <hardwareInterface>hardware_interface/EffortJointInterface</hardwareInterface>
    </joint>
    <actuator name="finger_1_segment_motor_5">
      <hardwareInterface>hardware_interface/EffortJointInterface</hardwareInterface>
      <mechanicalReduction>1</mechanicalReduction>
    </actuator>
  </transmission>
  <link name="finger_1_segment_link_7">
    <inertial>
      <mass value="0.00633333333333"/>
      <inertia ixx="4.14205277778e-07" ixy="0.00" ixz="0.00" iyy="7.62538611111e-07" iyz="0.00" izz="1.17588888889e-06"/>
      <!-- <inertia ixx="${1e-6 * stability_factor}"
                 iyy="${1e-6 * stability_factor}"
                 izz="${1e-6 * stability_factor}"
                ixy="0.00" iyz="0.00" ixz="0.00" /> -->
    </inertial>
    <visual>
      <origin rpy="0 0 0" xyz="0.0095 0 0"/>
      <geometry>
        <box size="0.019 0.028 0.0009"/>
      </geometry>
    </visual>
    <collision>
      <origin rpy="0 0 0" xyz="0.0095 0 0"/>
      <geometry>
        <box size="0.019 0.028 0.0009"/>
      </geometry>
    </collision>
  </link>
  <gazebo reference="finger_1_segment_link_7">
    <material>Gazebo/Orange</material>
    <mu1>0.1</mu1>
    <mu2>0.1</mu2>
    <maxVel>0.0</maxVel>
    <minDepth>0.001</minDepth>
    <!-- <kp>100</kp>
        <kd>1</kd> -->
  </gazebo>
  <!-- bending joint -->
  <joint name="finger_1_segment_joint_6" type="revolute">
    <axis rpy="0 0 0" xyz="0 1 0"/>
    <parent link="finger_1_segment_link_6"/>
    <child link="finger_1_segment_link_7"/>
    <origin rpy="0 0 0" xyz="0.019 0 0"/>
    <limit effort="1000.0" lower="-1.0" upper="1.0" velocity="1.0"/>
    <dynamics damping="0.001" friction="0.0"/>
  </joint>
  <gazebo reference="finger_1_segment_joint_6">
    <provideFeedback>1</provideFeedback>
    <springReference>0.0</springReference>
    <implicitSpringDamper>1</implicitSpringDamper>
    <springStiffness>3.0</springStiffness>
  </gazebo>
  <!-- set transmission for gazebo ROS controllers-->
  <transmission name="finger_1_segment_tran_6">
    <type>transmission_interface/SimpleTransmission</type>
    <joint name="finger_1_segment_joint_6">
      <hardwareInterface>hardware_interface/EffortJointInterface</hardwareInterface>
    </joint>
    <actuator name="finger_1_segment_motor_6">
      <hardwareInterface>hardware_interface/EffortJointInterface</hardwareInterface>
      <mechanicalReduction>1</mechanicalReduction>
    </actuator>
  </transmission>
  <link name="finger_1_segment_link_8">
    <inertial>
      <mass value="0.00633333333333"/>
      <inertia ixx="4.14205277778e-07" ixy="0.00" ixz="0.00" iyy="7.62538611111e-07" iyz="0.00" izz="1.17588888889e-06"/>
      <!-- <inertia ixx="${1e-6 * stability_factor}"
                 iyy="${1e-6 * stability_factor}"
                 izz="${1e-6 * stability_factor}"
                ixy="0.00" iyz="0.00" ixz="0.00" /> -->
    </inertial>
    <visual>
      <origin rpy="0 0 0" xyz="0.0095 0 0"/>
      <geometry>
        <box size="0.019 0.028 0.0009"/>
      </geometry>
    </visual>
    <collision>
      <origin rpy="0 0 0" xyz="0.0095 0 0"/>
      <geometry>
        <box size="0.019 0.028 0.0009"/>
      </geometry>
    </collision>
  </link>
  <gazebo reference="finger_1_segment_link_8">
    <material>Gazebo/Orange</material>
    <mu1>0.1</mu1>
    <mu2>0.1</mu2>
    <maxVel>0.0</maxVel>
    <minDepth>0.001</minDepth>
    <!-- <kp>100</kp>
        <kd>1</kd> -->
  </gazebo>
  <!-- bending joint -->
  <joint name="finger_1_segment_joint_7" type="revolute">
    <axis rpy="0 0 0" xyz="0 1 0"/>
    <parent link="finger_1_segment_link_7"/>
    <child link="finger_1_segment_link_8"/>
    <origin rpy="0 0 0" xyz="0.019 0 0"/>
    <limit effort="1000.0" lower="-1.0" upper="1.0" velocity="1.0"/>
    <dynamics damping="0.001" friction="0.0"/>
  </joint>
  <gazebo reference="finger_1_segment_joint_7">
    <provideFeedback>1</provideFeedback>
    <springReference>0.0</springReference>
    <implicitSpringDamper>1</implicitSpringDamper>
    <springStiffness>3.0</springStiffness>
  </gazebo>
  <!-- set transmission for gazebo ROS controllers-->
  <transmission name="finger_1_segment_tran_7">
    <type>transmission_interface/SimpleTransmission</type>
    <joint name="finger_1_segment_joint_7">
      <hardwareInterface>hardware_interface/EffortJointInterface</hardwareInterface>
    </joint>
    <actuator name="finger_1_segment_motor_7">
      <hardwareInterface>hardware_interface/EffortJointInterface</hardwareInterface>
      <mechanicalReduction>1</mechanicalReduction>
    </actuator>
  </transmission>
  <link name="finger_1_segment_link_9">
    <inertial>
      <mass value="0.00633333333333"/>
      <inertia ixx="4.14205277778e-07" ixy="0.00" ixz="0.00" iyy="7.62538611111e-07" iyz="0.00" izz="1.17588888889e-06"/>
      <!-- <inertia ixx="${1e-6 * stability_factor}"
                 iyy="${1e-6 * stability_factor}"
                 izz="${1e-6 * stability_factor}"
                ixy="0.00" iyz="0.00" ixz="0.00" /> -->
    </inertial>
    <visual>
      <origin rpy="0 0 0" xyz="0.0095 0 0"/>
      <geometry>
        <box size="0.019 0.028 0.0009"/>
      </geometry>
    </visual>
    <collision>
      <origin rpy="0 0 0" xyz="0.0095 0 0"/>
      <geometry>
        <box size="0.019 0.028 0.0009"/>
      </geometry>
    </collision>
  </link>
  <gazebo reference="finger_1_segment_link_9">
    <material>Gazebo/Orange</material>
    <mu1>0.1</mu1>
    <mu2>0.1</mu2>
    <maxVel>0.0</maxVel>
    <minDepth>0.001</minDepth>
    <!-- <kp>100</kp>
        <kd>1</kd> -->
  </gazebo>
  <!-- bending joint -->
  <joint name="finger_1_segment_joint_8" type="revolute">
    <axis rpy="0 0 0" xyz="0 1 0"/>
    <parent link="finger_1_segment_link_8"/>
    <child link="finger_1_segment_link_9"/>
    <origin rpy="0 0 0" xyz="0.019 0 0"/>
    <limit effort="1000.0" lower="-1.0" upper="1.0" velocity="1.0"/>
    <dynamics damping="0.001" friction="0.0"/>
  </joint>
  <gazebo reference="finger_1_segment_joint_8">
    <provideFeedback>1</provideFeedback>
    <springReference>0.0</springReference>
    <implicitSpringDamper>1</implicitSpringDamper>
    <springStiffness>3.0</springStiffness>
  </gazebo>
  <!-- set transmission for gazebo ROS controllers-->
  <transmission name="finger_1_segment_tran_8">
    <type>transmission_interface/SimpleTransmission</type>
    <joint name="finger_1_segment_joint_8">
      <hardwareInterface>hardware_interface/EffortJointInterface</hardwareInterface>
    </joint>
    <actuator name="finger_1_segment_motor_8">
      <hardwareInterface>hardware_interface/EffortJointInterface</hardwareInterface>
      <mechanicalReduction>1</mechanicalReduction>
    </actuator>
  </transmission>
  <link name="finger_1_segment_link_10">
    <inertial>
      <mass value="0.00633333333333"/>
      <inertia ixx="4.14205277778e-07" ixy="0.00" ixz="0.00" iyy="7.62538611111e-07" iyz="0.00" izz="1.17588888889e-06"/>
      <!-- <inertia ixx="${1e-6 * stability_factor}"
                 iyy="${1e-6 * stability_factor}"
                 izz="${1e-6 * stability_factor}"
                ixy="0.00" iyz="0.00" ixz="0.00" /> -->
    </inertial>
    <visual>
      <origin rpy="0 0 0" xyz="0.0095 0 0"/>
      <geometry>
        <box size="0.019 0.028 0.0009"/>
      </geometry>
    </visual>
    <collision>
      <origin rpy="0 0 0" xyz="0.0095 0 0"/>
      <geometry>
        <box size="0.019 0.028 0.0009"/>
      </geometry>
    </collision>
  </link>
  <gazebo reference="finger_1_segment_link_10">
    <material>Gazebo/Orange</material>
    <mu1>0.1</mu1>
    <mu2>0.1</mu2>
    <maxVel>0.0</maxVel>
    <minDepth>0.001</minDepth>
    <!-- <kp>100</kp>
        <kd>1</kd> -->
  </gazebo>
  <!-- bending joint -->
  <joint name="finger_1_segment_joint_9" type="revolute">
    <axis rpy="0 0 0" xyz="0 1 0"/>
    <parent link="finger_1_segment_link_9"/>
    <child link="finger_1_segment_link_10"/>
    <origin rpy="0 0 0" xyz="0.019 0 0"/>
    <limit effort="1000.0" lower="-1.0" upper="1.0" velocity="1.0"/>
    <dynamics damping="0.001" friction="0.0"/>
  </joint>
  <gazebo reference="finger_1_segment_joint_9">
    <provideFeedback>1</provideFeedback>
    <springReference>0.0</springReference>
    <implicitSpringDamper>1</implicitSpringDamper>
    <springStiffness>3.0</springStiffness>
  </gazebo>
  <!-- set transmission for gazebo ROS controllers-->
  <transmission name="finger_1_segment_tran_9">
    <type>transmission_interface/SimpleTransmission</type>
    <joint name="finger_1_segment_joint_9">
      <hardwareInterface>hardware_interface/EffortJointInterface</hardwareInterface>
    </joint>
    <actuator name="finger_1_segment_motor_9">
      <hardwareInterface>hardware_interface/EffortJointInterface</hardwareInterface>
      <mechanicalReduction>1</mechanicalReduction>
    </actuator>
  </transmission>
  <!-- Add the finger hook link -->
  <link name="finger_1_finger_hook_link">
    <inertial>
      <mass value="0.00633333333333"/>
      <inertia ixx="4.14205277778e-07" ixy="0.00" ixz="0.00" iyy="7.62538611111e-07" iyz="0.00" izz="1.17588888889e-06"/>
      <!-- <inertia ixx="${1e-6 * stability_factor}"
                 iyy="${1e-6 * stability_factor}"
                 izz="${1e-6 * stability_factor}"
                ixy="0.00" iyz="0.00" ixz="0.00" /> -->
    </inertial>
    <visual>
      <origin rpy="0 0 0" xyz="0.0175 0 0"/>
      <geometry>
        <box size="0.035 0.028 0.0009"/>
      </geometry>
    </visual>
    <collision>
      <origin rpy="0 0 0" xyz="0.0175 0 0"/>
      <geometry>
        <box size="0.035 0.028 0.0009"/>
      </geometry>
    </collision>
  </link>
  <gazebo reference="finger_1_finger_hook_link">
    <material>Gazebo/Orange</material>
    <mu1>0.1</mu1>
    <mu2>0.1</mu2>
    <maxVel>0.0</maxVel>
    <minDepth>0.001</minDepth>
    <!-- <kp>100</kp>
        <kd>1</kd> -->
  </gazebo>
  <!-- Connect the finger hook via a fixed joint -->
  <joint name="finger_1_finger_hook_joint" type="fixed">
    <parent link="finger_1_segment_link_10"/>
    <child link="finger_1_finger_hook_link"/>
    <origin rpy="0 -1.57079632679 0" xyz="0.019 0 0"/>
  </joint>
  <!-- <xacro:property name="joint_friction" value="${total_friction / num_segments}"/>
    <xacro:property name="joint_damping" value="${total_damping * num_segments}"/> -->
  <link name="finger_2_segment_link_1">
    <inertial>
      <mass value="0.00633333333333"/>
      <inertia ixx="4.14205277778e-07" ixy="0.00" ixz="0.00" iyy="7.62538611111e-07" iyz="0.00" izz="1.17588888889e-06"/>
      <!-- <inertia ixx="${1e-6 * stability_factor}"
                 iyy="${1e-6 * stability_factor}"
                 izz="${1e-6 * stability_factor}"
                ixy="0.00" iyz="0.00" ixz="0.00" /> -->
    </inertial>
    <visual>
      <origin rpy="0 0 0" xyz="0.0095 0 0"/>
      <geometry>
        <box size="0.019 0.028 0.0009"/>
      </geometry>
    </visual>
    <collision>
      <origin rpy="0 0 0" xyz="0.0095 0 0"/>
      <geometry>
        <box size="0.019 0.028 0.0009"/>
      </geometry>
    </collision>
  </link>
  <gazebo reference="finger_2_segment_link_1">
    <material>Gazebo/Orange</material>
    <mu1>0.1</mu1>
    <mu2>0.1</mu2>
    <maxVel>0.0</maxVel>
    <minDepth>0.001</minDepth>
    <!-- <kp>100</kp>
        <kd>1</kd> -->
  </gazebo>
  <link name="finger_2_segment_link_2">
    <inertial>
      <mass value="0.00633333333333"/>
      <inertia ixx="4.14205277778e-07" ixy="0.00" ixz="0.00" iyy="7.62538611111e-07" iyz="0.00" izz="1.17588888889e-06"/>
      <!-- <inertia ixx="${1e-6 * stability_factor}"
                 iyy="${1e-6 * stability_factor}"
                 izz="${1e-6 * stability_factor}"
                ixy="0.00" iyz="0.00" ixz="0.00" /> -->
    </inertial>
    <visual>
      <origin rpy="0 0 0" xyz="0.0095 0 0"/>
      <geometry>
        <box size="0.019 0.028 0.0009"/>
      </geometry>
    </visual>
    <collision>
      <origin rpy="0 0 0" xyz="0.0095 0 0"/>
      <geometry>
        <box size="0.019 0.028 0.0009"/>
      </geometry>
    </collision>
  </link>
  <gazebo reference="finger_2_segment_link_2">
    <material>Gazebo/Orange</material>
    <mu1>0.1</mu1>
    <mu2>0.1</mu2>
    <maxVel>0.0</maxVel>
    <minDepth>0.001</minDepth>
    <!-- <kp>100</kp>
        <kd>1</kd> -->
  </gazebo>
  <!-- bending joint -->
  <joint name="finger_2_segment_joint_1" type="revolute">
    <axis rpy="0 0 0" xyz="0 1 0"/>
    <parent link="finger_2_segment_link_1"/>
    <child link="finger_2_segment_link_2"/>
    <origin rpy="0 0 0" xyz="0.019 0 0"/>
    <limit effort="1000.0" lower="-1.0" upper="1.0" velocity="1.0"/>
    <dynamics damping="0.001" friction="0.0"/>
  </joint>
  <gazebo reference="finger_2_segment_joint_1">
    <provideFeedback>1</provideFeedback>
    <springReference>0.0</springReference>
    <implicitSpringDamper>1</implicitSpringDamper>
    <springStiffness>3.0</springStiffness>
  </gazebo>
  <!-- set transmission for gazebo ROS controllers-->
  <transmission name="finger_2_segment_tran_1">
    <type>transmission_interface/SimpleTransmission</type>
    <joint name="finger_2_segment_joint_1">
      <hardwareInterface>hardware_interface/EffortJointInterface</hardwareInterface>
    </joint>
    <actuator name="finger_2_segment_motor_1">
      <hardwareInterface>hardware_interface/EffortJointInterface</hardwareInterface>
      <mechanicalReduction>1</mechanicalReduction>
    </actuator>
  </transmission>
  <link name="finger_2_segment_link_3">
    <inertial>
      <mass value="0.00633333333333"/>
      <inertia ixx="4.14205277778e-07" ixy="0.00" ixz="0.00" iyy="7.62538611111e-07" iyz="0.00" izz="1.17588888889e-06"/>
      <!-- <inertia ixx="${1e-6 * stability_factor}"
                 iyy="${1e-6 * stability_factor}"
                 izz="${1e-6 * stability_factor}"
                ixy="0.00" iyz="0.00" ixz="0.00" /> -->
    </inertial>
    <visual>
      <origin rpy="0 0 0" xyz="0.0095 0 0"/>
      <geometry>
        <box size="0.019 0.028 0.0009"/>
      </geometry>
    </visual>
    <collision>
      <origin rpy="0 0 0" xyz="0.0095 0 0"/>
      <geometry>
        <box size="0.019 0.028 0.0009"/>
      </geometry>
    </collision>
  </link>
  <gazebo reference="finger_2_segment_link_3">
    <material>Gazebo/Orange</material>
    <mu1>0.1</mu1>
    <mu2>0.1</mu2>
    <maxVel>0.0</maxVel>
    <minDepth>0.001</minDepth>
    <!-- <kp>100</kp>
        <kd>1</kd> -->
  </gazebo>
  <!-- bending joint -->
  <joint name="finger_2_segment_joint_2" type="revolute">
    <axis rpy="0 0 0" xyz="0 1 0"/>
    <parent link="finger_2_segment_link_2"/>
    <child link="finger_2_segment_link_3"/>
    <origin rpy="0 0 0" xyz="0.019 0 0"/>
    <limit effort="1000.0" lower="-1.0" upper="1.0" velocity="1.0"/>
    <dynamics damping="0.001" friction="0.0"/>
  </joint>
  <gazebo reference="finger_2_segment_joint_2">
    <provideFeedback>1</provideFeedback>
    <springReference>0.0</springReference>
    <implicitSpringDamper>1</implicitSpringDamper>
    <springStiffness>3.0</springStiffness>
  </gazebo>
  <!-- set transmission for gazebo ROS controllers-->
  <transmission name="finger_2_segment_tran_2">
    <type>transmission_interface/SimpleTransmission</type>
    <joint name="finger_2_segment_joint_2">
      <hardwareInterface>hardware_interface/EffortJointInterface</hardwareInterface>
    </joint>
    <actuator name="finger_2_segment_motor_2">
      <hardwareInterface>hardware_interface/EffortJointInterface</hardwareInterface>
      <mechanicalReduction>1</mechanicalReduction>
    </actuator>
  </transmission>
  <link name="finger_2_segment_link_4">
    <inertial>
      <mass value="0.00633333333333"/>
      <inertia ixx="4.14205277778e-07" ixy="0.00" ixz="0.00" iyy="7.62538611111e-07" iyz="0.00" izz="1.17588888889e-06"/>
      <!-- <inertia ixx="${1e-6 * stability_factor}"
                 iyy="${1e-6 * stability_factor}"
                 izz="${1e-6 * stability_factor}"
                ixy="0.00" iyz="0.00" ixz="0.00" /> -->
    </inertial>
    <visual>
      <origin rpy="0 0 0" xyz="0.0095 0 0"/>
      <geometry>
        <box size="0.019 0.028 0.0009"/>
      </geometry>
    </visual>
    <collision>
      <origin rpy="0 0 0" xyz="0.0095 0 0"/>
      <geometry>
        <box size="0.019 0.028 0.0009"/>
      </geometry>
    </collision>
  </link>
  <gazebo reference="finger_2_segment_link_4">
    <material>Gazebo/Orange</material>
    <mu1>0.1</mu1>
    <mu2>0.1</mu2>
    <maxVel>0.0</maxVel>
    <minDepth>0.001</minDepth>
    <!-- <kp>100</kp>
        <kd>1</kd> -->
  </gazebo>
  <!-- bending joint -->
  <joint name="finger_2_segment_joint_3" type="revolute">
    <axis rpy="0 0 0" xyz="0 1 0"/>
    <parent link="finger_2_segment_link_3"/>
    <child link="finger_2_segment_link_4"/>
    <origin rpy="0 0 0" xyz="0.019 0 0"/>
    <limit effort="1000.0" lower="-1.0" upper="1.0" velocity="1.0"/>
    <dynamics damping="0.001" friction="0.0"/>
  </joint>
  <gazebo reference="finger_2_segment_joint_3">
    <provideFeedback>1</provideFeedback>
    <springReference>0.0</springReference>
    <implicitSpringDamper>1</implicitSpringDamper>
    <springStiffness>3.0</springStiffness>
  </gazebo>
  <!-- set transmission for gazebo ROS controllers-->
  <transmission name="finger_2_segment_tran_3">
    <type>transmission_interface/SimpleTransmission</type>
    <joint name="finger_2_segment_joint_3">
      <hardwareInterface>hardware_interface/EffortJointInterface</hardwareInterface>
    </joint>
    <actuator name="finger_2_segment_motor_3">
      <hardwareInterface>hardware_interface/EffortJointInterface</hardwareInterface>
      <mechanicalReduction>1</mechanicalReduction>
    </actuator>
  </transmission>
  <link name="finger_2_segment_link_5">
    <inertial>
      <mass value="0.00633333333333"/>
      <inertia ixx="4.14205277778e-07" ixy="0.00" ixz="0.00" iyy="7.62538611111e-07" iyz="0.00" izz="1.17588888889e-06"/>
      <!-- <inertia ixx="${1e-6 * stability_factor}"
                 iyy="${1e-6 * stability_factor}"
                 izz="${1e-6 * stability_factor}"
                ixy="0.00" iyz="0.00" ixz="0.00" /> -->
    </inertial>
    <visual>
      <origin rpy="0 0 0" xyz="0.0095 0 0"/>
      <geometry>
        <box size="0.019 0.028 0.0009"/>
      </geometry>
    </visual>
    <collision>
      <origin rpy="0 0 0" xyz="0.0095 0 0"/>
      <geometry>
        <box size="0.019 0.028 0.0009"/>
      </geometry>
    </collision>
  </link>
  <gazebo reference="finger_2_segment_link_5">
    <material>Gazebo/Orange</material>
    <mu1>0.1</mu1>
    <mu2>0.1</mu2>
    <maxVel>0.0</maxVel>
    <minDepth>0.001</minDepth>
    <!-- <kp>100</kp>
        <kd>1</kd> -->
  </gazebo>
  <!-- bending joint -->
  <joint name="finger_2_segment_joint_4" type="revolute">
    <axis rpy="0 0 0" xyz="0 1 0"/>
    <parent link="finger_2_segment_link_4"/>
    <child link="finger_2_segment_link_5"/>
    <origin rpy="0 0 0" xyz="0.019 0 0"/>
    <limit effort="1000.0" lower="-1.0" upper="1.0" velocity="1.0"/>
    <dynamics damping="0.001" friction="0.0"/>
  </joint>
  <gazebo reference="finger_2_segment_joint_4">
    <provideFeedback>1</provideFeedback>
    <springReference>0.0</springReference>
    <implicitSpringDamper>1</implicitSpringDamper>
    <springStiffness>3.0</springStiffness>
  </gazebo>
  <!-- set transmission for gazebo ROS controllers-->
  <transmission name="finger_2_segment_tran_4">
    <type>transmission_interface/SimpleTransmission</type>
    <joint name="finger_2_segment_joint_4">
      <hardwareInterface>hardware_interface/EffortJointInterface</hardwareInterface>
    </joint>
    <actuator name="finger_2_segment_motor_4">
      <hardwareInterface>hardware_interface/EffortJointInterface</hardwareInterface>
      <mechanicalReduction>1</mechanicalReduction>
    </actuator>
  </transmission>
  <link name="finger_2_segment_link_6">
    <inertial>
      <mass value="0.00633333333333"/>
      <inertia ixx="4.14205277778e-07" ixy="0.00" ixz="0.00" iyy="7.62538611111e-07" iyz="0.00" izz="1.17588888889e-06"/>
      <!-- <inertia ixx="${1e-6 * stability_factor}"
                 iyy="${1e-6 * stability_factor}"
                 izz="${1e-6 * stability_factor}"
                ixy="0.00" iyz="0.00" ixz="0.00" /> -->
    </inertial>
    <visual>
      <origin rpy="0 0 0" xyz="0.0095 0 0"/>
      <geometry>
        <box size="0.019 0.028 0.0009"/>
      </geometry>
    </visual>
    <collision>
      <origin rpy="0 0 0" xyz="0.0095 0 0"/>
      <geometry>
        <box size="0.019 0.028 0.0009"/>
      </geometry>
    </collision>
  </link>
  <gazebo reference="finger_2_segment_link_6">
    <material>Gazebo/Orange</material>
    <mu1>0.1</mu1>
    <mu2>0.1</mu2>
    <maxVel>0.0</maxVel>
    <minDepth>0.001</minDepth>
    <!-- <kp>100</kp>
        <kd>1</kd> -->
  </gazebo>
  <!-- bending joint -->
  <joint name="finger_2_segment_joint_5" type="revolute">
    <axis rpy="0 0 0" xyz="0 1 0"/>
    <parent link="finger_2_segment_link_5"/>
    <child link="finger_2_segment_link_6"/>
    <origin rpy="0 0 0" xyz="0.019 0 0"/>
    <limit effort="1000.0" lower="-1.0" upper="1.0" velocity="1.0"/>
    <dynamics damping="0.001" friction="0.0"/>
  </joint>
  <gazebo reference="finger_2_segment_joint_5">
    <provideFeedback>1</provideFeedback>
    <springReference>0.0</springReference>
    <implicitSpringDamper>1</implicitSpringDamper>
    <springStiffness>3.0</springStiffness>
  </gazebo>
  <!-- set transmission for gazebo ROS controllers-->
  <transmission name="finger_2_segment_tran_5">
    <type>transmission_interface/SimpleTransmission</type>
    <joint name="finger_2_segment_joint_5">
      <hardwareInterface>hardware_interface/EffortJointInterface</hardwareInterface>
    </joint>
    <actuator name="finger_2_segment_motor_5">
      <hardwareInterface>hardware_interface/EffortJointInterface</hardwareInterface>
      <mechanicalReduction>1</mechanicalReduction>
    </actuator>
  </transmission>
  <link name="finger_2_segment_link_7">
    <inertial>
      <mass value="0.00633333333333"/>
      <inertia ixx="4.14205277778e-07" ixy="0.00" ixz="0.00" iyy="7.62538611111e-07" iyz="0.00" izz="1.17588888889e-06"/>
      <!-- <inertia ixx="${1e-6 * stability_factor}"
                 iyy="${1e-6 * stability_factor}"
                 izz="${1e-6 * stability_factor}"
                ixy="0.00" iyz="0.00" ixz="0.00" /> -->
    </inertial>
    <visual>
      <origin rpy="0 0 0" xyz="0.0095 0 0"/>
      <geometry>
        <box size="0.019 0.028 0.0009"/>
      </geometry>
    </visual>
    <collision>
      <origin rpy="0 0 0" xyz="0.0095 0 0"/>
      <geometry>
        <box size="0.019 0.028 0.0009"/>
      </geometry>
    </collision>
  </link>
  <gazebo reference="finger_2_segment_link_7">
    <material>Gazebo/Orange</material>
    <mu1>0.1</mu1>
    <mu2>0.1</mu2>
    <maxVel>0.0</maxVel>
    <minDepth>0.001</minDepth>
    <!-- <kp>100</kp>
        <kd>1</kd> -->
  </gazebo>
  <!-- bending joint -->
  <joint name="finger_2_segment_joint_6" type="revolute">
    <axis rpy="0 0 0" xyz="0 1 0"/>
    <parent link="finger_2_segment_link_6"/>
    <child link="finger_2_segment_link_7"/>
    <origin rpy="0 0 0" xyz="0.019 0 0"/>
    <limit effort="1000.0" lower="-1.0" upper="1.0" velocity="1.0"/>
    <dynamics damping="0.001" friction="0.0"/>
  </joint>
  <gazebo reference="finger_2_segment_joint_6">
    <provideFeedback>1</provideFeedback>
    <springReference>0.0</springReference>
    <implicitSpringDamper>1</implicitSpringDamper>
    <springStiffness>3.0</springStiffness>
  </gazebo>
  <!-- set transmission for gazebo ROS controllers-->
  <transmission name="finger_2_segment_tran_6">
    <type>transmission_interface/SimpleTransmission</type>
    <joint name="finger_2_segment_joint_6">
      <hardwareInterface>hardware_interface/EffortJointInterface</hardwareInterface>
    </joint>
    <actuator name="finger_2_segment_motor_6">
      <hardwareInterface>hardware_interface/EffortJointInterface</hardwareInterface>
      <mechanicalReduction>1</mechanicalReduction>
    </actuator>
  </transmission>
  <link name="finger_2_segment_link_8">
    <inertial>
      <mass value="0.00633333333333"/>
      <inertia ixx="4.14205277778e-07" ixy="0.00" ixz="0.00" iyy="7.62538611111e-07" iyz="0.00" izz="1.17588888889e-06"/>
      <!-- <inertia ixx="${1e-6 * stability_factor}"
                 iyy="${1e-6 * stability_factor}"
                 izz="${1e-6 * stability_factor}"
                ixy="0.00" iyz="0.00" ixz="0.00" /> -->
    </inertial>
    <visual>
      <origin rpy="0 0 0" xyz="0.0095 0 0"/>
      <geometry>
        <box size="0.019 0.028 0.0009"/>
      </geometry>
    </visual>
    <collision>
      <origin rpy="0 0 0" xyz="0.0095 0 0"/>
      <geometry>
        <box size="0.019 0.028 0.0009"/>
      </geometry>
    </collision>
  </link>
  <gazebo reference="finger_2_segment_link_8">
    <material>Gazebo/Orange</material>
    <mu1>0.1</mu1>
    <mu2>0.1</mu2>
    <maxVel>0.0</maxVel>
    <minDepth>0.001</minDepth>
    <!-- <kp>100</kp>
        <kd>1</kd> -->
  </gazebo>
  <!-- bending joint -->
  <joint name="finger_2_segment_joint_7" type="revolute">
    <axis rpy="0 0 0" xyz="0 1 0"/>
    <parent link="finger_2_segment_link_7"/>
    <child link="finger_2_segment_link_8"/>
    <origin rpy="0 0 0" xyz="0.019 0 0"/>
    <limit effort="1000.0" lower="-1.0" upper="1.0" velocity="1.0"/>
    <dynamics damping="0.001" friction="0.0"/>
  </joint>
  <gazebo reference="finger_2_segment_joint_7">
    <provideFeedback>1</provideFeedback>
    <springReference>0.0</springReference>
    <implicitSpringDamper>1</implicitSpringDamper>
    <springStiffness>3.0</springStiffness>
  </gazebo>
  <!-- set transmission for gazebo ROS controllers-->
  <transmission name="finger_2_segment_tran_7">
    <type>transmission_interface/SimpleTransmission</type>
    <joint name="finger_2_segment_joint_7">
      <hardwareInterface>hardware_interface/EffortJointInterface</hardwareInterface>
    </joint>
    <actuator name="finger_2_segment_motor_7">
      <hardwareInterface>hardware_interface/EffortJointInterface</hardwareInterface>
      <mechanicalReduction>1</mechanicalReduction>
    </actuator>
  </transmission>
  <link name="finger_2_segment_link_9">
    <inertial>
      <mass value="0.00633333333333"/>
      <inertia ixx="4.14205277778e-07" ixy="0.00" ixz="0.00" iyy="7.62538611111e-07" iyz="0.00" izz="1.17588888889e-06"/>
      <!-- <inertia ixx="${1e-6 * stability_factor}"
                 iyy="${1e-6 * stability_factor}"
                 izz="${1e-6 * stability_factor}"
                ixy="0.00" iyz="0.00" ixz="0.00" /> -->
    </inertial>
    <visual>
      <origin rpy="0 0 0" xyz="0.0095 0 0"/>
      <geometry>
        <box size="0.019 0.028 0.0009"/>
      </geometry>
    </visual>
    <collision>
      <origin rpy="0 0 0" xyz="0.0095 0 0"/>
      <geometry>
        <box size="0.019 0.028 0.0009"/>
      </geometry>
    </collision>
  </link>
  <gazebo reference="finger_2_segment_link_9">
    <material>Gazebo/Orange</material>
    <mu1>0.1</mu1>
    <mu2>0.1</mu2>
    <maxVel>0.0</maxVel>
    <minDepth>0.001</minDepth>
    <!-- <kp>100</kp>
        <kd>1</kd> -->
  </gazebo>
  <!-- bending joint -->
  <joint name="finger_2_segment_joint_8" type="revolute">
    <axis rpy="0 0 0" xyz="0 1 0"/>
    <parent link="finger_2_segment_link_8"/>
    <child link="finger_2_segment_link_9"/>
    <origin rpy="0 0 0" xyz="0.019 0 0"/>
    <limit effort="1000.0" lower="-1.0" upper="1.0" velocity="1.0"/>
    <dynamics damping="0.001" friction="0.0"/>
  </joint>
  <gazebo reference="finger_2_segment_joint_8">
    <provideFeedback>1</provideFeedback>
    <springReference>0.0</springReference>
    <implicitSpringDamper>1</implicitSpringDamper>
    <springStiffness>3.0</springStiffness>
  </gazebo>
  <!-- set transmission for gazebo ROS controllers-->
  <transmission name="finger_2_segment_tran_8">
    <type>transmission_interface/SimpleTransmission</type>
    <joint name="finger_2_segment_joint_8">
      <hardwareInterface>hardware_interface/EffortJointInterface</hardwareInterface>
    </joint>
    <actuator name="finger_2_segment_motor_8">
      <hardwareInterface>hardware_interface/EffortJointInterface</hardwareInterface>
      <mechanicalReduction>1</mechanicalReduction>
    </actuator>
  </transmission>
  <link name="finger_2_segment_link_10">
    <inertial>
      <mass value="0.00633333333333"/>
      <inertia ixx="4.14205277778e-07" ixy="0.00" ixz="0.00" iyy="7.62538611111e-07" iyz="0.00" izz="1.17588888889e-06"/>
      <!-- <inertia ixx="${1e-6 * stability_factor}"
                 iyy="${1e-6 * stability_factor}"
                 izz="${1e-6 * stability_factor}"
                ixy="0.00" iyz="0.00" ixz="0.00" /> -->
    </inertial>
    <visual>
      <origin rpy="0 0 0" xyz="0.0095 0 0"/>
      <geometry>
        <box size="0.019 0.028 0.0009"/>
      </geometry>
    </visual>
    <collision>
      <origin rpy="0 0 0" xyz="0.0095 0 0"/>
      <geometry>
        <box size="0.019 0.028 0.0009"/>
      </geometry>
    </collision>
  </link>
  <gazebo reference="finger_2_segment_link_10">
    <material>Gazebo/Orange</material>
    <mu1>0.1</mu1>
    <mu2>0.1</mu2>
    <maxVel>0.0</maxVel>
    <minDepth>0.001</minDepth>
    <!-- <kp>100</kp>
        <kd>1</kd> -->
  </gazebo>
  <!-- bending joint -->
  <joint name="finger_2_segment_joint_9" type="revolute">
    <axis rpy="0 0 0" xyz="0 1 0"/>
    <parent link="finger_2_segment_link_9"/>
    <child link="finger_2_segment_link_10"/>
    <origin rpy="0 0 0" xyz="0.019 0 0"/>
    <limit effort="1000.0" lower="-1.0" upper="1.0" velocity="1.0"/>
    <dynamics damping="0.001" friction="0.0"/>
  </joint>
  <gazebo reference="finger_2_segment_joint_9">
    <provideFeedback>1</provideFeedback>
    <springReference>0.0</springReference>
    <implicitSpringDamper>1</implicitSpringDamper>
    <springStiffness>3.0</springStiffness>
  </gazebo>
  <!-- set transmission for gazebo ROS controllers-->
  <transmission name="finger_2_segment_tran_9">
    <type>transmission_interface/SimpleTransmission</type>
    <joint name="finger_2_segment_joint_9">
      <hardwareInterface>hardware_interface/EffortJointInterface</hardwareInterface>
    </joint>
    <actuator name="finger_2_segment_motor_9">
      <hardwareInterface>hardware_interface/EffortJointInterface</hardwareInterface>
      <mechanicalReduction>1</mechanicalReduction>
    </actuator>
  </transmission>
  <!-- Add the finger hook link -->
  <link name="finger_2_finger_hook_link">
    <inertial>
      <mass value="0.00633333333333"/>
      <inertia ixx="4.14205277778e-07" ixy="0.00" ixz="0.00" iyy="7.62538611111e-07" iyz="0.00" izz="1.17588888889e-06"/>
      <!-- <inertia ixx="${1e-6 * stability_factor}"
                 iyy="${1e-6 * stability_factor}"
                 izz="${1e-6 * stability_factor}"
                ixy="0.00" iyz="0.00" ixz="0.00" /> -->
    </inertial>
    <visual>
      <origin rpy="0 0 0" xyz="0.0175 0 0"/>
      <geometry>
        <box size="0.035 0.028 0.0009"/>
      </geometry>
    </visual>
    <collision>
      <origin rpy="0 0 0" xyz="0.0175 0 0"/>
      <geometry>
        <box size="0.035 0.028 0.0009"/>
      </geometry>
    </collision>
  </link>
  <gazebo reference="finger_2_finger_hook_link">
    <material>Gazebo/Orange</material>
    <mu1>0.1</mu1>
    <mu2>0.1</mu2>
    <maxVel>0.0</maxVel>
    <minDepth>0.001</minDepth>
    <!-- <kp>100</kp>
        <kd>1</kd> -->
  </gazebo>
  <!-- Connect the finger hook via a fixed joint -->
  <joint name="finger_2_finger_hook_joint" type="fixed">
    <parent link="finger_2_segment_link_10"/>
    <child link="finger_2_finger_hook_link"/>
    <origin rpy="0 -1.57079632679 0" xyz="0.019 0 0"/>
  </joint>
  <!-- <xacro:property name="joint_friction" value="${total_friction / num_segments}"/>
    <xacro:property name="joint_damping" value="${total_damping * num_segments}"/> -->
  <link name="finger_3_segment_link_1">
    <inertial>
      <mass value="0.00633333333333"/>
      <inertia ixx="4.14205277778e-07" ixy="0.00" ixz="0.00" iyy="7.62538611111e-07" iyz="0.00" izz="1.17588888889e-06"/>
      <!-- <inertia ixx="${1e-6 * stability_factor}"
                 iyy="${1e-6 * stability_factor}"
                 izz="${1e-6 * stability_factor}"
                ixy="0.00" iyz="0.00" ixz="0.00" /> -->
    </inertial>
    <visual>
      <origin rpy="0 0 0" xyz="0.0095 0 0"/>
      <geometry>
        <box size="0.019 0.028 0.0009"/>
      </geometry>
    </visual>
    <collision>
      <origin rpy="0 0 0" xyz="0.0095 0 0"/>
      <geometry>
        <box size="0.019 0.028 0.0009"/>
      </geometry>
    </collision>
  </link>
  <gazebo reference="finger_3_segment_link_1">
    <material>Gazebo/Orange</material>
    <mu1>0.1</mu1>
    <mu2>0.1</mu2>
    <maxVel>0.0</maxVel>
    <minDepth>0.001</minDepth>
    <!-- <kp>100</kp>
        <kd>1</kd> -->
  </gazebo>
  <link name="finger_3_segment_link_2">
    <inertial>
      <mass value="0.00633333333333"/>
      <inertia ixx="4.14205277778e-07" ixy="0.00" ixz="0.00" iyy="7.62538611111e-07" iyz="0.00" izz="1.17588888889e-06"/>
      <!-- <inertia ixx="${1e-6 * stability_factor}"
                 iyy="${1e-6 * stability_factor}"
                 izz="${1e-6 * stability_factor}"
                ixy="0.00" iyz="0.00" ixz="0.00" /> -->
    </inertial>
    <visual>
      <origin rpy="0 0 0" xyz="0.0095 0 0"/>
      <geometry>
        <box size="0.019 0.028 0.0009"/>
      </geometry>
    </visual>
    <collision>
      <origin rpy="0 0 0" xyz="0.0095 0 0"/>
      <geometry>
        <box size="0.019 0.028 0.0009"/>
      </geometry>
    </collision>
  </link>
  <gazebo reference="finger_3_segment_link_2">
    <material>Gazebo/Orange</material>
    <mu1>0.1</mu1>
    <mu2>0.1</mu2>
    <maxVel>0.0</maxVel>
    <minDepth>0.001</minDepth>
    <!-- <kp>100</kp>
        <kd>1</kd> -->
  </gazebo>
  <!-- bending joint -->
  <joint name="finger_3_segment_joint_1" type="revolute">
    <axis rpy="0 0 0" xyz="0 1 0"/>
    <parent link="finger_3_segment_link_1"/>
    <child link="finger_3_segment_link_2"/>
    <origin rpy="0 0 0" xyz="0.019 0 0"/>
    <limit effort="1000.0" lower="-1.0" upper="1.0" velocity="1.0"/>
    <dynamics damping="0.001" friction="0.0"/>
  </joint>
  <gazebo reference="finger_3_segment_joint_1">
    <provideFeedback>1</provideFeedback>
    <springReference>0.0</springReference>
    <implicitSpringDamper>1</implicitSpringDamper>
    <springStiffness>3.0</springStiffness>
  </gazebo>
  <!-- set transmission for gazebo ROS controllers-->
  <transmission name="finger_3_segment_tran_1">
    <type>transmission_interface/SimpleTransmission</type>
    <joint name="finger_3_segment_joint_1">
      <hardwareInterface>hardware_interface/EffortJointInterface</hardwareInterface>
    </joint>
    <actuator name="finger_3_segment_motor_1">
      <hardwareInterface>hardware_interface/EffortJointInterface</hardwareInterface>
      <mechanicalReduction>1</mechanicalReduction>
    </actuator>
  </transmission>
  <link name="finger_3_segment_link_3">
    <inertial>
      <mass value="0.00633333333333"/>
      <inertia ixx="4.14205277778e-07" ixy="0.00" ixz="0.00" iyy="7.62538611111e-07" iyz="0.00" izz="1.17588888889e-06"/>
      <!-- <inertia ixx="${1e-6 * stability_factor}"
                 iyy="${1e-6 * stability_factor}"
                 izz="${1e-6 * stability_factor}"
                ixy="0.00" iyz="0.00" ixz="0.00" /> -->
    </inertial>
    <visual>
      <origin rpy="0 0 0" xyz="0.0095 0 0"/>
      <geometry>
        <box size="0.019 0.028 0.0009"/>
      </geometry>
    </visual>
    <collision>
      <origin rpy="0 0 0" xyz="0.0095 0 0"/>
      <geometry>
        <box size="0.019 0.028 0.0009"/>
      </geometry>
    </collision>
  </link>
  <gazebo reference="finger_3_segment_link_3">
    <material>Gazebo/Orange</material>
    <mu1>0.1</mu1>
    <mu2>0.1</mu2>
    <maxVel>0.0</maxVel>
    <minDepth>0.001</minDepth>
    <!-- <kp>100</kp>
        <kd>1</kd> -->
  </gazebo>
  <!-- bending joint -->
  <joint name="finger_3_segment_joint_2" type="revolute">
    <axis rpy="0 0 0" xyz="0 1 0"/>
    <parent link="finger_3_segment_link_2"/>
    <child link="finger_3_segment_link_3"/>
    <origin rpy="0 0 0" xyz="0.019 0 0"/>
    <limit effort="1000.0" lower="-1.0" upper="1.0" velocity="1.0"/>
    <dynamics damping="0.001" friction="0.0"/>
  </joint>
  <gazebo reference="finger_3_segment_joint_2">
    <provideFeedback>1</provideFeedback>
    <springReference>0.0</springReference>
    <implicitSpringDamper>1</implicitSpringDamper>
    <springStiffness>3.0</springStiffness>
  </gazebo>
  <!-- set transmission for gazebo ROS controllers-->
  <transmission name="finger_3_segment_tran_2">
    <type>transmission_interface/SimpleTransmission</type>
    <joint name="finger_3_segment_joint_2">
      <hardwareInterface>hardware_interface/EffortJointInterface</hardwareInterface>
    </joint>
    <actuator name="finger_3_segment_motor_2">
      <hardwareInterface>hardware_interface/EffortJointInterface</hardwareInterface>
      <mechanicalReduction>1</mechanicalReduction>
    </actuator>
  </transmission>
  <link name="finger_3_segment_link_4">
    <inertial>
      <mass value="0.00633333333333"/>
      <inertia ixx="4.14205277778e-07" ixy="0.00" ixz="0.00" iyy="7.62538611111e-07" iyz="0.00" izz="1.17588888889e-06"/>
      <!-- <inertia ixx="${1e-6 * stability_factor}"
                 iyy="${1e-6 * stability_factor}"
                 izz="${1e-6 * stability_factor}"
                ixy="0.00" iyz="0.00" ixz="0.00" /> -->
    </inertial>
    <visual>
      <origin rpy="0 0 0" xyz="0.0095 0 0"/>
      <geometry>
        <box size="0.019 0.028 0.0009"/>
      </geometry>
    </visual>
    <collision>
      <origin rpy="0 0 0" xyz="0.0095 0 0"/>
      <geometry>
        <box size="0.019 0.028 0.0009"/>
      </geometry>
    </collision>
  </link>
  <gazebo reference="finger_3_segment_link_4">
    <material>Gazebo/Orange</material>
    <mu1>0.1</mu1>
    <mu2>0.1</mu2>
    <maxVel>0.0</maxVel>
    <minDepth>0.001</minDepth>
    <!-- <kp>100</kp>
        <kd>1</kd> -->
  </gazebo>
  <!-- bending joint -->
  <joint name="finger_3_segment_joint_3" type="revolute">
    <axis rpy="0 0 0" xyz="0 1 0"/>
    <parent link="finger_3_segment_link_3"/>
    <child link="finger_3_segment_link_4"/>
    <origin rpy="0 0 0" xyz="0.019 0 0"/>
    <limit effort="1000.0" lower="-1.0" upper="1.0" velocity="1.0"/>
    <dynamics damping="0.001" friction="0.0"/>
  </joint>
  <gazebo reference="finger_3_segment_joint_3">
    <provideFeedback>1</provideFeedback>
    <springReference>0.0</springReference>
    <implicitSpringDamper>1</implicitSpringDamper>
    <springStiffness>3.0</springStiffness>
  </gazebo>
  <!-- set transmission for gazebo ROS controllers-->
  <transmission name="finger_3_segment_tran_3">
    <type>transmission_interface/SimpleTransmission</type>
    <joint name="finger_3_segment_joint_3">
      <hardwareInterface>hardware_interface/EffortJointInterface</hardwareInterface>
    </joint>
    <actuator name="finger_3_segment_motor_3">
      <hardwareInterface>hardware_interface/EffortJointInterface</hardwareInterface>
      <mechanicalReduction>1</mechanicalReduction>
    </actuator>
  </transmission>
  <link name="finger_3_segment_link_5">
    <inertial>
      <mass value="0.00633333333333"/>
      <inertia ixx="4.14205277778e-07" ixy="0.00" ixz="0.00" iyy="7.62538611111e-07" iyz="0.00" izz="1.17588888889e-06"/>
      <!-- <inertia ixx="${1e-6 * stability_factor}"
                 iyy="${1e-6 * stability_factor}"
                 izz="${1e-6 * stability_factor}"
                ixy="0.00" iyz="0.00" ixz="0.00" /> -->
    </inertial>
    <visual>
      <origin rpy="0 0 0" xyz="0.0095 0 0"/>
      <geometry>
        <box size="0.019 0.028 0.0009"/>
      </geometry>
    </visual>
    <collision>
      <origin rpy="0 0 0" xyz="0.0095 0 0"/>
      <geometry>
        <box size="0.019 0.028 0.0009"/>
      </geometry>
    </collision>
  </link>
  <gazebo reference="finger_3_segment_link_5">
    <material>Gazebo/Orange</material>
    <mu1>0.1</mu1>
    <mu2>0.1</mu2>
    <maxVel>0.0</maxVel>
    <minDepth>0.001</minDepth>
    <!-- <kp>100</kp>
        <kd>1</kd> -->
  </gazebo>
  <!-- bending joint -->
  <joint name="finger_3_segment_joint_4" type="revolute">
    <axis rpy="0 0 0" xyz="0 1 0"/>
    <parent link="finger_3_segment_link_4"/>
    <child link="finger_3_segment_link_5"/>
    <origin rpy="0 0 0" xyz="0.019 0 0"/>
    <limit effort="1000.0" lower="-1.0" upper="1.0" velocity="1.0"/>
    <dynamics damping="0.001" friction="0.0"/>
  </joint>
  <gazebo reference="finger_3_segment_joint_4">
    <provideFeedback>1</provideFeedback>
    <springReference>0.0</springReference>
    <implicitSpringDamper>1</implicitSpringDamper>
    <springStiffness>3.0</springStiffness>
  </gazebo>
  <!-- set transmission for gazebo ROS controllers-->
  <transmission name="finger_3_segment_tran_4">
    <type>transmission_interface/SimpleTransmission</type>
    <joint name="finger_3_segment_joint_4">
      <hardwareInterface>hardware_interface/EffortJointInterface</hardwareInterface>
    </joint>
    <actuator name="finger_3_segment_motor_4">
      <hardwareInterface>hardware_interface/EffortJointInterface</hardwareInterface>
      <mechanicalReduction>1</mechanicalReduction>
    </actuator>
  </transmission>
  <link name="finger_3_segment_link_6">
    <inertial>
      <mass value="0.00633333333333"/>
      <inertia ixx="4.14205277778e-07" ixy="0.00" ixz="0.00" iyy="7.62538611111e-07" iyz="0.00" izz="1.17588888889e-06"/>
      <!-- <inertia ixx="${1e-6 * stability_factor}"
                 iyy="${1e-6 * stability_factor}"
                 izz="${1e-6 * stability_factor}"
                ixy="0.00" iyz="0.00" ixz="0.00" /> -->
    </inertial>
    <visual>
      <origin rpy="0 0 0" xyz="0.0095 0 0"/>
      <geometry>
        <box size="0.019 0.028 0.0009"/>
      </geometry>
    </visual>
    <collision>
      <origin rpy="0 0 0" xyz="0.0095 0 0"/>
      <geometry>
        <box size="0.019 0.028 0.0009"/>
      </geometry>
    </collision>
  </link>
  <gazebo reference="finger_3_segment_link_6">
    <material>Gazebo/Orange</material>
    <mu1>0.1</mu1>
    <mu2>0.1</mu2>
    <maxVel>0.0</maxVel>
    <minDepth>0.001</minDepth>
    <!-- <kp>100</kp>
        <kd>1</kd> -->
  </gazebo>
  <!-- bending joint -->
  <joint name="finger_3_segment_joint_5" type="revolute">
    <axis rpy="0 0 0" xyz="0 1 0"/>
    <parent link="finger_3_segment_link_5"/>
    <child link="finger_3_segment_link_6"/>
    <origin rpy="0 0 0" xyz="0.019 0 0"/>
    <limit effort="1000.0" lower="-1.0" upper="1.0" velocity="1.0"/>
    <dynamics damping="0.001" friction="0.0"/>
  </joint>
  <gazebo reference="finger_3_segment_joint_5">
    <provideFeedback>1</provideFeedback>
    <springReference>0.0</springReference>
    <implicitSpringDamper>1</implicitSpringDamper>
    <springStiffness>3.0</springStiffness>
  </gazebo>
  <!-- set transmission for gazebo ROS controllers-->
  <transmission name="finger_3_segment_tran_5">
    <type>transmission_interface/SimpleTransmission</type>
    <joint name="finger_3_segment_joint_5">
      <hardwareInterface>hardware_interface/EffortJointInterface</hardwareInterface>
    </joint>
    <actuator name="finger_3_segment_motor_5">
      <hardwareInterface>hardware_interface/EffortJointInterface</hardwareInterface>
      <mechanicalReduction>1</mechanicalReduction>
    </actuator>
  </transmission>
  <link name="finger_3_segment_link_7">
    <inertial>
      <mass value="0.00633333333333"/>
      <inertia ixx="4.14205277778e-07" ixy="0.00" ixz="0.00" iyy="7.62538611111e-07" iyz="0.00" izz="1.17588888889e-06"/>
      <!-- <inertia ixx="${1e-6 * stability_factor}"
                 iyy="${1e-6 * stability_factor}"
                 izz="${1e-6 * stability_factor}"
                ixy="0.00" iyz="0.00" ixz="0.00" /> -->
    </inertial>
    <visual>
      <origin rpy="0 0 0" xyz="0.0095 0 0"/>
      <geometry>
        <box size="0.019 0.028 0.0009"/>
      </geometry>
    </visual>
    <collision>
      <origin rpy="0 0 0" xyz="0.0095 0 0"/>
      <geometry>
        <box size="0.019 0.028 0.0009"/>
      </geometry>
    </collision>
  </link>
  <gazebo reference="finger_3_segment_link_7">
    <material>Gazebo/Orange</material>
    <mu1>0.1</mu1>
    <mu2>0.1</mu2>
    <maxVel>0.0</maxVel>
    <minDepth>0.001</minDepth>
    <!-- <kp>100</kp>
        <kd>1</kd> -->
  </gazebo>
  <!-- bending joint -->
  <joint name="finger_3_segment_joint_6" type="revolute">
    <axis rpy="0 0 0" xyz="0 1 0"/>
    <parent link="finger_3_segment_link_6"/>
    <child link="finger_3_segment_link_7"/>
    <origin rpy="0 0 0" xyz="0.019 0 0"/>
    <limit effort="1000.0" lower="-1.0" upper="1.0" velocity="1.0"/>
    <dynamics damping="0.001" friction="0.0"/>
  </joint>
  <gazebo reference="finger_3_segment_joint_6">
    <provideFeedback>1</provideFeedback>
    <springReference>0.0</springReference>
    <implicitSpringDamper>1</implicitSpringDamper>
    <springStiffness>3.0</springStiffness>
  </gazebo>
  <!-- set transmission for gazebo ROS controllers-->
  <transmission name="finger_3_segment_tran_6">
    <type>transmission_interface/SimpleTransmission</type>
    <joint name="finger_3_segment_joint_6">
      <hardwareInterface>hardware_interface/EffortJointInterface</hardwareInterface>
    </joint>
    <actuator name="finger_3_segment_motor_6">
      <hardwareInterface>hardware_interface/EffortJointInterface</hardwareInterface>
      <mechanicalReduction>1</mechanicalReduction>
    </actuator>
  </transmission>
  <link name="finger_3_segment_link_8">
    <inertial>
      <mass value="0.00633333333333"/>
      <inertia ixx="4.14205277778e-07" ixy="0.00" ixz="0.00" iyy="7.62538611111e-07" iyz="0.00" izz="1.17588888889e-06"/>
      <!-- <inertia ixx="${1e-6 * stability_factor}"
                 iyy="${1e-6 * stability_factor}"
                 izz="${1e-6 * stability_factor}"
                ixy="0.00" iyz="0.00" ixz="0.00" /> -->
    </inertial>
    <visual>
      <origin rpy="0 0 0" xyz="0.0095 0 0"/>
      <geometry>
        <box size="0.019 0.028 0.0009"/>
      </geometry>
    </visual>
    <collision>
      <origin rpy="0 0 0" xyz="0.0095 0 0"/>
      <geometry>
        <box size="0.019 0.028 0.0009"/>
      </geometry>
    </collision>
  </link>
  <gazebo reference="finger_3_segment_link_8">
    <material>Gazebo/Orange</material>
    <mu1>0.1</mu1>
    <mu2>0.1</mu2>
    <maxVel>0.0</maxVel>
    <minDepth>0.001</minDepth>
    <!-- <kp>100</kp>
        <kd>1</kd> -->
  </gazebo>
  <!-- bending joint -->
  <joint name="finger_3_segment_joint_7" type="revolute">
    <axis rpy="0 0 0" xyz="0 1 0"/>
    <parent link="finger_3_segment_link_7"/>
    <child link="finger_3_segment_link_8"/>
    <origin rpy="0 0 0" xyz="0.019 0 0"/>
    <limit effort="1000.0" lower="-1.0" upper="1.0" velocity="1.0"/>
    <dynamics damping="0.001" friction="0.0"/>
  </joint>
  <gazebo reference="finger_3_segment_joint_7">
    <provideFeedback>1</provideFeedback>
    <springReference>0.0</springReference>
    <implicitSpringDamper>1</implicitSpringDamper>
    <springStiffness>3.0</springStiffness>
  </gazebo>
  <!-- set transmission for gazebo ROS controllers-->
  <transmission name="finger_3_segment_tran_7">
    <type>transmission_interface/SimpleTransmission</type>
    <joint name="finger_3_segment_joint_7">
      <hardwareInterface>hardware_interface/EffortJointInterface</hardwareInterface>
    </joint>
    <actuator name="finger_3_segment_motor_7">
      <hardwareInterface>hardware_interface/EffortJointInterface</hardwareInterface>
      <mechanicalReduction>1</mechanicalReduction>
    </actuator>
  </transmission>
  <link name="finger_3_segment_link_9">
    <inertial>
      <mass value="0.00633333333333"/>
      <inertia ixx="4.14205277778e-07" ixy="0.00" ixz="0.00" iyy="7.62538611111e-07" iyz="0.00" izz="1.17588888889e-06"/>
      <!-- <inertia ixx="${1e-6 * stability_factor}"
                 iyy="${1e-6 * stability_factor}"
                 izz="${1e-6 * stability_factor}"
                ixy="0.00" iyz="0.00" ixz="0.00" /> -->
    </inertial>
    <visual>
      <origin rpy="0 0 0" xyz="0.0095 0 0"/>
      <geometry>
        <box size="0.019 0.028 0.0009"/>
      </geometry>
    </visual>
    <collision>
      <origin rpy="0 0 0" xyz="0.0095 0 0"/>
      <geometry>
        <box size="0.019 0.028 0.0009"/>
      </geometry>
    </collision>
  </link>
  <gazebo reference="finger_3_segment_link_9">
    <material>Gazebo/Orange</material>
    <mu1>0.1</mu1>
    <mu2>0.1</mu2>
    <maxVel>0.0</maxVel>
    <minDepth>0.001</minDepth>
    <!-- <kp>100</kp>
        <kd>1</kd> -->
  </gazebo>
  <!-- bending joint -->
  <joint name="finger_3_segment_joint_8" type="revolute">
    <axis rpy="0 0 0" xyz="0 1 0"/>
    <parent link="finger_3_segment_link_8"/>
    <child link="finger_3_segment_link_9"/>
    <origin rpy="0 0 0" xyz="0.019 0 0"/>
    <limit effort="1000.0" lower="-1.0" upper="1.0" velocity="1.0"/>
    <dynamics damping="0.001" friction="0.0"/>
  </joint>
  <gazebo reference="finger_3_segment_joint_8">
    <provideFeedback>1</provideFeedback>
    <springReference>0.0</springReference>
    <implicitSpringDamper>1</implicitSpringDamper>
    <springStiffness>3.0</springStiffness>
  </gazebo>
  <!-- set transmission for gazebo ROS controllers-->
  <transmission name="finger_3_segment_tran_8">
    <type>transmission_interface/SimpleTransmission</type>
    <joint name="finger_3_segment_joint_8">
      <hardwareInterface>hardware_interface/EffortJointInterface</hardwareInterface>
    </joint>
    <actuator name="finger_3_segment_motor_8">
      <hardwareInterface>hardware_interface/EffortJointInterface</hardwareInterface>
      <mechanicalReduction>1</mechanicalReduction>
    </actuator>
  </transmission>
  <link name="finger_3_segment_link_10">
    <inertial>
      <mass value="0.00633333333333"/>
      <inertia ixx="4.14205277778e-07" ixy="0.00" ixz="0.00" iyy="7.62538611111e-07" iyz="0.00" izz="1.17588888889e-06"/>
      <!-- <inertia ixx="${1e-6 * stability_factor}"
                 iyy="${1e-6 * stability_factor}"
                 izz="${1e-6 * stability_factor}"
                ixy="0.00" iyz="0.00" ixz="0.00" /> -->
    </inertial>
    <visual>
      <origin rpy="0 0 0" xyz="0.0095 0 0"/>
      <geometry>
        <box size="0.019 0.028 0.0009"/>
      </geometry>
    </visual>
    <collision>
      <origin rpy="0 0 0" xyz="0.0095 0 0"/>
      <geometry>
        <box size="0.019 0.028 0.0009"/>
      </geometry>
    </collision>
  </link>
  <gazebo reference="finger_3_segment_link_10">
    <material>Gazebo/Orange</material>
    <mu1>0.1</mu1>
    <mu2>0.1</mu2>
    <maxVel>0.0</maxVel>
    <minDepth>0.001</minDepth>
    <!-- <kp>100</kp>
        <kd>1</kd> -->
  </gazebo>
  <!-- bending joint -->
  <joint name="finger_3_segment_joint_9" type="revolute">
    <axis rpy="0 0 0" xyz="0 1 0"/>
    <parent link="finger_3_segment_link_9"/>
    <child link="finger_3_segment_link_10"/>
    <origin rpy="0 0 0" xyz="0.019 0 0"/>
    <limit effort="1000.0" lower="-1.0" upper="1.0" velocity="1.0"/>
    <dynamics damping="0.001" friction="0.0"/>
  </joint>
  <gazebo reference="finger_3_segment_joint_9">
    <provideFeedback>1</provideFeedback>
    <springReference>0.0</springReference>
    <implicitSpringDamper>1</implicitSpringDamper>
    <springStiffness>3.0</springStiffness>
  </gazebo>
  <!-- set transmission for gazebo ROS controllers-->
  <transmission name="finger_3_segment_tran_9">
    <type>transmission_interface/SimpleTransmission</type>
    <joint name="finger_3_segment_joint_9">
      <hardwareInterface>hardware_interface/EffortJointInterface</hardwareInterface>
    </joint>
    <actuator name="finger_3_segment_motor_9">
      <hardwareInterface>hardware_interface/EffortJointInterface</hardwareInterface>
      <mechanicalReduction>1</mechanicalReduction>
    </actuator>
  </transmission>
  <!-- Add the finger hook link -->
  <link name="finger_3_finger_hook_link">
    <inertial>
      <mass value="0.00633333333333"/>
      <inertia ixx="4.14205277778e-07" ixy="0.00" ixz="0.00" iyy="7.62538611111e-07" iyz="0.00" izz="1.17588888889e-06"/>
      <!-- <inertia ixx="${1e-6 * stability_factor}"
                 iyy="${1e-6 * stability_factor}"
                 izz="${1e-6 * stability_factor}"
                ixy="0.00" iyz="0.00" ixz="0.00" /> -->
    </inertial>
    <visual>
      <origin rpy="0 0 0" xyz="0.0175 0 0"/>
      <geometry>
        <box size="0.035 0.028 0.0009"/>
      </geometry>
    </visual>
    <collision>
      <origin rpy="0 0 0" xyz="0.0175 0 0"/>
      <geometry>
        <box size="0.035 0.028 0.0009"/>
      </geometry>
    </collision>
  </link>
  <gazebo reference="finger_3_finger_hook_link">
    <material>Gazebo/Orange</material>
    <mu1>0.1</mu1>
    <mu2>0.1</mu2>
    <maxVel>0.0</maxVel>
    <minDepth>0.001</minDepth>
    <!-- <kp>100</kp>
        <kd>1</kd> -->
  </gazebo>
  <!-- Connect the finger hook via a fixed joint -->
  <joint name="finger_3_finger_hook_joint" type="fixed">
    <parent link="finger_3_segment_link_10"/>
    <child link="finger_3_finger_hook_link"/>
    <origin rpy="0 -1.57079632679 0" xyz="0.019 0 0"/>
  </joint>
  <gazebo>
    <plugin filename="libfinger_controller_plugin.so" name="finger_controller_plugin"/>
  </gazebo>
  <!-- attach them to the gripper -->
  <!-- TODO verify these values -->
  <joint name="to_segmented_finger_1" type="fixed">
    <origin rpy="1.57079632679 0 0" xyz="0.129 -0.007 0"/>
    <parent link="finger_1"/>
    <child link="finger_1_segment_link_1"/>
  </joint>
  <joint name="to_segmented_finger_2" type="fixed">
    <origin rpy="1.57079632679 0 0" xyz="0.129 -0.007 0"/>
    <parent link="finger_2"/>
    <child link="finger_2_segment_link_1"/>
  </joint>
  <joint name="to_segmented_finger_3" type="fixed">
    <origin rpy="1.57079632679 0 0" xyz="0.129 -0.007 0"/>
    <parent link="finger_3"/>
    <child link="finger_3_segment_link_1"/>
  </joint>
  <!-- connect the panda to the ground -->
  <link name="world"/>
  <joint name="world_to_base" type="fixed">
    <origin rpy="0 0 0" xyz="0 0 0"/>
    <parent link="world"/>
    <child link="panda_link0"/>
  </joint>
  <!-- connect the gripper to the panda -->
  <!-- TODO verify these values, change panda_link7 to 8 -->
  <joint name="panda_to_eef_base_link" type="fixed">
    <origin rpy="0 0 -0.785398163397" xyz="0 0 0.25"/>
    <parent link="panda_link7"/>
    <child link="gripper_base_link"/>
  </joint>
</robot>
